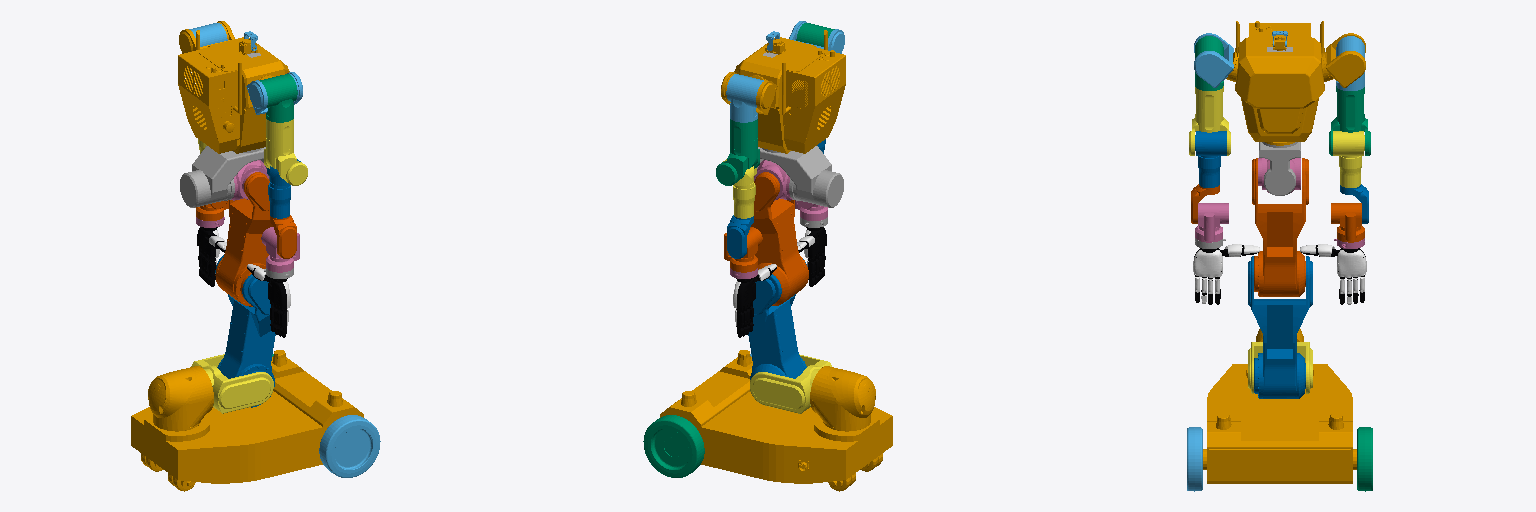
--- What the picture shows (computed from the rendered views, not written in the file) ---
Views: 3 orthographic renders of the robot side by side, from view 1: azimuth 30°, elevation 25°; view 2: azimuth 150°, elevation 25°; view 3: azimuth 270°, elevation 25°.
Robot: RB_Y1_V1_0_1 — 86 links, 85 joints (45 revolute, 2 continuous, 38 fixed); root link base_link; default pose: every joint at zero.
Links seen in each view (by area): view 1: base_link, link_torso_4, link_torso_1, link_torso_0, wheel_r, link_torso_3, link_torso_base, link_right_arm_2, link_right_arm_1, link_right_arm_3, link_right_arm_5, link_right_arm_4 (+3 smaller); view 2: base_link, link_torso_4, link_torso_1, link_torso_0, wheel_l, link_torso_3, link_torso_base, link_left_arm_2, link_left_arm_1, link_left_arm_3, link_left_arm_5, link_left_arm_4 (+3 smaller); view 3: base_link, link_torso_4, link_torso_0, link_torso_1, link_torso_3, link_right_arm_2, link_left_arm_2, link_right_arm_3, link_left_arm_3, link_right_arm_0, link_left_arm_0, link_right_arm_5 (+8 smaller).
Link boxes in pixels (bbox=[...]): base_link: bbox=[131, 350, 363, 491]; link_torso_4: bbox=[178, 30, 289, 153]; link_torso_1: bbox=[215, 172, 272, 306]; link_torso_0: bbox=[215, 255, 275, 407]; wheel_r: bbox=[319, 415, 380, 477]; link_torso_3: bbox=[180, 146, 269, 207]; link_torso_base: bbox=[191, 354, 273, 413]; link_right_arm_2: bbox=[264, 119, 307, 185]; link_right_arm_1: bbox=[260, 74, 297, 122]; link_right_arm_3: bbox=[267, 159, 300, 218]; link_right_arm_5: bbox=[261, 227, 299, 272]; link_right_arm_4: bbox=[270, 215, 296, 258]; base_link: bbox=[660, 350, 892, 491]; link_torso_4: bbox=[734, 30, 845, 153]; link_torso_1: bbox=[751, 172, 808, 305]; link_torso_0: bbox=[748, 259, 806, 379]; wheel_l: bbox=[643, 415, 704, 477]; link_torso_3: bbox=[757, 146, 843, 207]; link_torso_base: bbox=[750, 354, 831, 413]; link_left_arm_2: bbox=[716, 119, 759, 185]; link_left_arm_1: bbox=[726, 74, 763, 122]; link_left_arm_3: bbox=[723, 159, 756, 218]; link_left_arm_5: bbox=[724, 227, 762, 272]; link_left_arm_4: bbox=[727, 215, 753, 258]; base_link: bbox=[1203, 329, 1356, 483]; link_torso_4: bbox=[1226, 21, 1333, 145]; link_torso_0: bbox=[1248, 256, 1312, 398]; link_torso_1: bbox=[1252, 158, 1308, 296]; link_torso_3: bbox=[1259, 142, 1300, 195]; link_right_arm_2: bbox=[1189, 86, 1230, 155]; link_left_arm_2: bbox=[1329, 86, 1370, 155]; link_right_arm_3: bbox=[1195, 131, 1226, 187]; link_left_arm_3: bbox=[1333, 131, 1364, 187]; link_right_arm_0: bbox=[1194, 33, 1233, 87]; link_left_arm_0: bbox=[1326, 33, 1365, 87]; link_right_arm_5: bbox=[1195, 203, 1228, 242].
Size in the robot's own frame: 0.6626 by 0.58 by 1.47 metres.
Meshes: 85 distinct files referenced, 80 mesh visuals loaded (79 binary STL); not drawn: 6 (reference not matched to a file when rendering).

The robot description file, URDF, robot "RB_Y1_V1_0_1":
<?xml version='1.0' encoding='utf-8'?>
<robot name="RB_Y1_V1_0_1">
    <mujoco>
        <compiler
          balanceinertia="true"
          discardvisual="false"
          angle="radian"
          fusestatic="false"
          inertiafromgeom="false"
          fitaabb="false"
          
         />
        <option gravity="0 0 -9.81" timestep="0.002" />
      </mujoco>
    <mobile type="differential" xyz="0.228 0 0" rpy="0 0 0" joints="right_wheel left_wheel" params="0.53 0.1" />

    <link name="base_link">
        <inertial>
            <mass value="60.08042639" />
            <origin rpy="0 0 0" xyz="-0.06157942 -0.00142271 0.13513861" />
            <inertia ixx="1.37742174" ixy="0.02521789" ixz="0.18565467" iyy="2.99386515" iyz="-0.00641869" izz="3.76085052" />
        </inertial>

        <visual>
            <geometry>
                <mesh filename="./base.stl" />
            </geometry>
        </visual>
    </link>

    <link name="wheel_r">
        <inertial>
            <mass value="1.37783736" />
            <origin rpy="0 0 0" xyz="0.0 -0.00073938 0.0" />
            <inertia ixx="0.00426657" ixy="0.0" ixz="0.0" iyy="0.00811815" iyz="0.0" izz="0.00426657" />
        </inertial>

        <visual>
            <geometry>
                <mesh filename="./WHEEL.stl" />
            </geometry>
        </visual>
    </link>

    <link name="wheel_l">
        <inertial>
            <mass value="1.37783736" />
            <origin rpy="0 0 0" xyz="0.0 0.00073938 0.0" />
            <inertia ixx="0.00426657" ixy="0.0" ixz="0.0" iyy="0.00811815" iyz="0.0" izz="0.00426657" />
        </inertial>

        <visual>
            <geometry>
                <mesh filename="./WHEEL.stl" />
            </geometry>
        </visual>
    </link>

    <link name="link_torso_base">
        <inertial>
            <mass value="2.24282123" />
            <origin rpy="0 0 0" xyz="-0.08848415 0.00021367 0.00000046" />
            <inertia ixx="0.01413496" ixy="0.00092982" ixz="-0.00000010" iyy="0.01005357" iyz="-0.00000008" izz="0.01892525" />
        </inertial>

        <visual>
            <geometry>
                <mesh filename="./LINK_1.stl" />
            </geometry>
        </visual>

        <collision><origin xyz="-0.115000 0.000000 0.000000" rpy="0.000000 1.570800 0.000000" /><geometry><cylinder radius="0.105000" length="0.020000" /></geometry></collision><collision><origin xyz="-0.105000 0.000000 -0.000000" rpy="0.000000 1.570800 0.000000" /><geometry><sphere radius="0.105000" /></geometry></collision><collision><origin xyz="-0.125000 0.000000 0.000000" rpy="0.000000 1.570800 0.000000" /><geometry><sphere radius="0.105000" /></geometry></collision></link>

    <link name="link_torso_0">
        <inertial>
            <mass value="9.72162676" />
            <origin rpy="0 0 0" xyz="0.00728955 -0.01728522 0.06911380" />
            <inertia ixx="0.14862640" ixy="-0.00142621" ixz="-0.00951385" iyy="0.13854733" iyz="-0.00975351" izz="0.02912982" />
        </inertial>

        <visual>
            <geometry>
                <mesh filename="./LINK_2.stl" />
            </geometry>
        </visual>

        <collision><origin xyz="0.010000 0.000000 0.240000" rpy="0.000000 0.000000 0.000000" /><geometry><sphere radius="0.115000" /></geometry></collision></link>

    <link name="link_torso_1">
        <inertial>
            <mass value="9.21691850" />
            <origin rpy="0 0 0" xyz="0.00653835 -0.01769536 0.05636582" />
            <inertia ixx="0.12162270" ixy="-0.00127910" ixz="-0.00831678" iyy="0.11589190" iyz="-0.00873271" izz="0.03094484" />
        </inertial>

        <visual>
            <geometry>
                <mesh filename="./LINK_3.stl" />
            </geometry>
        </visual>

        <collision><origin xyz="0.025000 0.000000 0.230000" rpy="0.000000 0.000000 0.000000" /><geometry><sphere radius="0.095000" /></geometry></collision></link>

    <link name="link_torso_2">
        <inertial>
            <mass value="4.18679196" />
            <origin rpy="0 0 0" xyz="-0.00574156 -0.01725975 0.00005610" />
            <inertia ixx="0.00849870" ixy="0.00040861" ixz="-0.00000263" iyy="0.00929513" iyz="-0.00001243" izz="0.00955442" />
        </inertial>

        <visual>
            <geometry>
                <mesh filename="./LINK_4.stl" />
            </geometry>
        </visual>
    </link>

    <link name="link_torso_3">
        <inertial>
            <mass value="4.45566276" />
            <origin rpy="0 0 0" xyz="-0.09097095 0.00005085 0.02601950" />
            <inertia ixx="0.01545991" ixy="0.00001883" ixz="-0.00780349" iyy="0.02550888" iyz="0.00000715" izz="0.01952563" />
        </inertial>

        <visual>
            <geometry>
                <mesh filename="./LINK_5.stl" />
            </geometry>
        </visual>


        <collision><origin xyz="-0.070000 0.000000 0.038500" rpy="0.000000 1.570800 0.000000" /><geometry><sphere radius="0.105000" /></geometry></collision></link>

    <link name="link_torso_4">
        <inertial>
            <mass value="12.59012341" />
            <origin rpy="0 0 0" xyz="-0.01338376 0.00025621 -0.03272487" />
            <inertia ixx="0.21375525" ixy="0.00051520" ixz="0.00880124" iyy="0.16562090" iyz="-0.00023995" izz="0.13308879" />
        </inertial>

        <visual>
            <geometry>
                <mesh filename="./LINK_6.stl" />
            </geometry>
        </visual>

        <collision><origin xyz="0.000000 0.000000 0.007500" rpy="0.000000 0.000000 0.000000" /><geometry><sphere radius="0.155000" /></geometry></collision></link>

    <link name="link_right_arm_0">
        <inertial>
            <mass value="1.26164242" />
            <origin rpy="0 0 0" xyz="-0.00316662 0.03437181 -0.00000030" />
            <inertia ixx="0.00230621" ixy="0.00039024" ixz="-0.00000256" iyy="0.00426418" iyz="0.00000118" izz="0.00432156" />
        </inertial>

        <visual>
            <geometry>
                <mesh filename="./LINK_7.stl" />
            </geometry>
        </visual>

        <collision><origin xyz="-0.015000 0.018000 -0.008000" rpy="0.000000 1.570800 0.000000" /><geometry><sphere radius="0.075000" /></geometry></collision></link>

    <link name="link_right_arm_1">
        <inertial>
            <mass value="2.27287031" />
            <origin rpy="0 0 0" xyz="-0.00307855 -0.00124741 -0.01294324" />
            <inertia ixx="0.00388490" ixy="-0.00001477" ixz="0.00011465" iyy="0.00447034" iyz="-0.00010023" izz="0.00288341" />
        </inertial>

        <visual>
            <geometry>
                <mesh filename="./LINK_8.stl" />
            </geometry>
        </visual>

        <collision><origin xyz="0.000000 0.000000 -0.100000" rpy="0.000000 0.000000 0.000000" /><geometry><cylinder radius="0.050000" length="0.100000" /></geometry></collision><collision><origin xyz="0.000000 0.000000 -0.050000" rpy="0.000000 0.000000 0.000000" /><geometry><sphere radius="0.050000" /></geometry></collision><collision><origin xyz="0.000000 0.000000 -0.150000" rpy="0.000000 0.000000 0.000000" /><geometry><sphere radius="0.050000" /></geometry></collision></link>

    <link name="link_right_arm_2">
        <inertial>
            <mass value="2.46909439" />
            <origin rpy="0 0 0" xyz="0.00115434 -0.00196635 -0.16192524" />
            <inertia ixx="0.00980269" ixy="0.00005871" ixz="0.00051888" iyy="0.00924560" iyz="-0.00045932" izz="0.00329867" />
        </inertial>

        <visual>
            <geometry>
                <mesh filename="./LINK_9.stl" />
            </geometry>
        </visual>

        <collision><origin xyz="0.026000 0.000000 -0.276000" rpy="1.570800 0.000000 0.000000" /><geometry><sphere radius="0.050000" /></geometry></collision></link>

    <link name="link_right_arm_3">
        <inertial>
            <mass value="2.26099493" />
            <origin rpy="0 0 0" xyz="-0.01603135 -0.00692891 -0.04549811" />
            <inertia ixx="0.00822606" ixy="0.00027620" ixz="-0.00156570" iyy="0.00844870" iyz="0.00076157" izz="0.00236614" />
        </inertial>

        <visual>
            <geometry>
                <mesh filename="./LINK_10.stl" />
            </geometry>
        </visual>

        <collision><origin xyz="-0.031000 0.000000 -0.107500" rpy="0.000000 0.000000 0.000000" /><geometry><cylinder radius="0.040000" length="0.035000" /></geometry></collision><collision><origin xyz="-0.031000 0.000000 -0.090000" rpy="0.000000 0.000000 0.000000" /><geometry><sphere radius="0.040000" /></geometry></collision><collision><origin xyz="-0.031000 0.000000 -0.125000" rpy="0.000000 0.000000 0.000000" /><geometry><sphere radius="0.040000" /></geometry></collision></link>

    <link name="link_right_arm_4">
        <inertial>
            <mass value="0.42508710" />
            <origin rpy="0 0 0" xyz="-0.00000011 -0.02696036 0.06182110" />
            <inertia ixx="0.00082466" ixy="0.0" ixz="0.0" iyy="0.00075398" iyz="-0.00025338" izz="0.00039794" />
        </inertial>

        <visual>
            <geometry>
                <mesh filename="./LINK_11.stl" />
            </geometry>
        </visual>

        <collision><origin xyz="0.000000 -0.038000 0.017500" rpy="0.000000 0.000000 0.000000" /><geometry><cylinder radius="0.035000" length="0.025000" /></geometry></collision><collision><origin xyz="0.000000 -0.038000 0.030000" rpy="0.000000 0.000000 0.000000" /><geometry><sphere radius="0.035000" /></geometry></collision><collision><origin xyz="0.000000 -0.038000 0.005000" rpy="0.000000 0.000000 0.000000" /><geometry><sphere radius="0.035000" /></geometry></collision></link>

    <link name="link_right_arm_5">
        <inertial>
            <mass value="1.59194395" />
            <origin rpy="0 0 0" xyz="0.00318034 -0.00532264 -0.02809655" />
            <inertia ixx="0.00256054" ixy="-0.00002344" ixz="-0.00001563" iyy="0.00257233" iyz="0.00021608" izz="0.00156092" />
        </inertial>

        <visual>
            <geometry>
                <mesh filename="./LINK_12.stl" />
            </geometry>
        </visual>

        <collision><origin xyz="0.000000 0.000000 -0.100000" rpy="0.000000 0.000000 0.000000" /><geometry><cylinder radius="0.075000" length="0.100000" /></geometry></collision><collision><origin xyz="0.000000 0.000000 -0.050000" rpy="0.000000 0.000000 0.000000" /><geometry><sphere radius="0.075000" /></geometry></collision><collision><origin xyz="0.000000 0.000000 -0.150000" rpy="0.000000 0.000000 0.000000" /><geometry><sphere radius="0.075000" /></geometry></collision></link>

    <link name="link_right_arm_6">
        <inertial>
            <mass value="0.21137279" />
            <origin rpy="0 0 0" xyz="0.00066810 -0.00031708 -0.09636043" />
            <inertia ixx="0.00013511" ixy="-0.00000242" ixz="-0.00000102" iyy="0.00014453" iyz="0.00000094" izz="0.00025431" />
        </inertial>

        <visual>
            <geometry>
                <mesh filename="./LINK_13.stl" />
            </geometry>
        </visual>
    </link>

    <link name="link_left_arm_0">
        <inertial>
            <mass value="1.26164242" />
            <origin rpy="0 0 0" xyz="-0.00316662 -0.03437151 0.00000242" />
            <inertia ixx="0.00230624" ixy="-0.00039022" ixz="0.00000269" iyy="0.00426418" iyz="0.00000108" izz="0.00432159" />
        </inertial>

        <visual>
            <geometry>
                <mesh filename="./LINK_14.stl" />
            </geometry>
        </visual>

        <collision><origin xyz="-0.015000 -0.018000 -0.008000" rpy="0.000000 1.570800 0.000000" /><geometry><sphere radius="0.075000" /></geometry></collision></link>

    <link name="link_left_arm_1">
        <inertial>
            <mass value="1.88138658" />
            <origin rpy="0 0 0" xyz="-0.00183470 0.00040596 -0.01008733" />
            <inertia ixx="0.00295838" ixy="-0.00001176" ixz="0.00006949" iyy="0.00355208" iyz="0.00004467" izz="0.00230558" />
        </inertial>

        <visual>
            <geometry>
                <mesh filename="./LINK_15.stl" />
            </geometry>
        </visual>

        <collision><origin xyz="0.000000 0.000000 -0.100000" rpy="0.000000 0.000000 0.000000" /><geometry><cylinder radius="0.050000" length="0.100000" /></geometry></collision><collision><origin xyz="0.000000 0.000000 -0.050000" rpy="0.000000 0.000000 0.000000" /><geometry><sphere radius="0.050000" /></geometry></collision><collision><origin xyz="0.000000 0.000000 -0.150000" rpy="0.000000 0.000000 0.000000" /><geometry><sphere radius="0.050000" /></geometry></collision></link>

    <link name="link_left_arm_2">
        <inertial>
            <mass value="2.35634437" />
            <origin rpy="0 0 0" xyz="0.00066086 -0.00038583 -0.15742972" />
            <inertia ixx="0.00842712" ixy="0.00000247" ixz="0.00036948" iyy="0.00802311" iyz="-0.00006550" izz="0.00295678" />
        </inertial>

        <visual>
            <geometry>
                <mesh filename="./LINK_16.stl" />
            </geometry>
        </visual>

        <collision><origin xyz="0.026000 0.000000 -0.276000" rpy="1.570800 0.000000 0.000000" /><geometry><sphere radius="0.050000" /></geometry></collision></link>

    <link name="link_left_arm_3">
        <inertial>
            <mass value="2.00905891" />
            <origin rpy="0 0 0" xyz="-0.01565298 0.00793126 -0.04997943" />
            <inertia ixx="0.00756474" ixy="-0.00026771" ixz="-0.00155419" iyy="0.00772758" iyz="-0.00084364" izz="0.00199754" />
        </inertial>

        <visual>
            <geometry>
                <mesh filename="./LINK_17.stl" />
            </geometry>
        </visual>

        <collision><origin xyz="-0.031000 0.000000 -0.107500" rpy="0.000000 0.000000 0.000000" /><geometry><cylinder radius="0.040000" length="0.035000" /></geometry></collision><collision><origin xyz="-0.031000 0.000000 -0.090000" rpy="0.000000 0.000000 0.000000" /><geometry><sphere radius="0.040000" /></geometry></collision><collision><origin xyz="-0.031000 0.000000 -0.125000" rpy="0.000000 0.000000 0.000000" /><geometry><sphere radius="0.040000" /></geometry></collision></link>

    <link name="link_left_arm_4">
        <inertial>
            <mass value="0.42508710" />
            <origin rpy="0 0 0" xyz="0.00000011 0.02696036 0.06182110" />
            <inertia ixx="0.00082466" ixy="0.0" ixz="0.0" iyy="0.00075398" iyz="0.00025338" izz="0.00039794" />
        </inertial>

        <visual>
            <geometry>
                <mesh filename="./LINK_18.stl" />
            </geometry>
        </visual>

        <collision><origin xyz="0.000000 0.038000 0.017500" rpy="0.000000 0.000000 0.000000" /><geometry><cylinder radius="0.035000" length="0.025000" /></geometry></collision><collision><origin xyz="0.000000 0.038000 0.030000" rpy="0.000000 0.000000 0.000000" /><geometry><sphere radius="0.035000" /></geometry></collision><collision><origin xyz="0.000000 0.038000 0.005000" rpy="0.000000 0.000000 0.000000" /><geometry><sphere radius="0.035000" /></geometry></collision></link>

    <link name="link_left_arm_5">
        <inertial>
            <mass value="1.44264795" />
            <origin rpy="0 0 0" xyz="0.00340082 0.00576824 -0.02507309" />
            <inertia ixx="0.00233577" ixy="0.00003048" ixz="-0.00001191" iyy="0.00232580" iyz="-0.00019491" izz="0.00138375" />
        </inertial>

        <visual>
            <geometry>
                <mesh filename="./LINK_19.stl" />
            </geometry>
        </visual>

        <collision><origin xyz="0.000000 0.000000 -0.100000" rpy="0.000000 0.000000 0.000000" /><geometry><cylinder radius="0.075000" length="0.100000" /></geometry></collision><collision><origin xyz="0.000000 0.000000 -0.050000" rpy="0.000000 0.000000 0.000000" /><geometry><sphere radius="0.075000" /></geometry></collision><collision><origin xyz="0.000000 0.000000 -0.150000" rpy="0.000000 0.000000 0.000000" /><geometry><sphere radius="0.075000" /></geometry></collision></link>

    <link name="link_left_arm_6">
        <inertial>
            <mass value="0.21137279" />
            <origin rpy="0 0 0" xyz="-0.00066810 0.00031708 -0.09636043" />
            <inertia ixx="0.00013511" ixy="-0.00000242" ixz="0.00000102" iyy="0.00014453" iyz="-0.00000094" izz="0.00025431" />
        </inertial>

        <visual>
            <geometry>
                <mesh filename="./LINK_20.stl" />
            </geometry>
        </visual>
    </link>


    <link name="link_head_0">
        <inertial>
            <mass value="0.07582110" />
            <origin rpy="0 0 0" xyz="-0.00800549 0.0 -0.01100308" />
            <inertia ixx="0.00003307" ixy="0.0" ixz="-0.00000290" iyy="0.00002209" iyz="0.0" izz="0.00003796" />
        </inertial>

        <visual>
            <geometry>
                <mesh filename="./PAN_TILT_1.stl" />
            </geometry>
        </visual>
    </link>

    <link name="link_head_1">
        <inertial>
            <mass value="0.07450580" />
            <origin rpy="0 0 0" xyz="-0.01150679 -0.00114270 -0.00031579" />
            <inertia ixx="0.00001850" ixy="-0.00000035" ixz="0.00000203" iyy="0.00002451" iyz="-0.00000010" izz="0.00002062" />
        </inertial>

        <visual>
            <geometry>
                <mesh filename="./PAN_TILT_2.stl" />
            </geometry>
        </visual>
    </link>

    <link name="link_head_2">
        <inertial>
            <mass value="0.03585374" />
            <origin rpy="0 0 0" xyz="-0.00081966 0.00099024 0.02283704" />
            <inertia ixx="0.00002046" ixy="0.00000001" ixz="-0.00000027" iyy="0.00001044" iyz="0.00000076" izz="0.00001291" />
        </inertial>

        <visual>
            <geometry>
                <mesh filename="./PAN_TILT_3.stl" />
            </geometry>
        </visual>
    </link>


    
    <joint name="right_wheel" type="continuous">
        <parent link="base_link" />
        <child link="wheel_r" />
        <origin rpy="0.0 0.0 0.0" xyz="0.228 -0.265 0.1" />
        <axis xyz="0 -1 0" />
        <limit effort="100.0" velocity="15.707963268" acceleration="3.141592" />
    </joint>

    <joint name="left_wheel" type="continuous">
        <parent link="base_link" />
        <child link="wheel_l" />
        <origin rpy="0.0 0.0 0.0" xyz="0.228 0.265 0.1" />
        <axis xyz="0 -1 0" />
        <limit effort="100.0" velocity="15.707963268" acceleration="3.141592" />
    </joint>

    <joint name="torso_base" type="fixed">
        <parent link="base_link" />
        <child link="link_torso_base" />
        <origin rpy="0.0 0.0 0.0" xyz="0.0 0.0 0.2805" />
        <axis xyz="1 0 0" />
    </joint>

    <joint name="torso_0" type="revolute">
        <parent link="link_torso_base" />
        <child link="link_torso_0" />
        <origin rpy="0.0 0.0 0.0" xyz="0.0 0.0 0.0" />
        <axis xyz="0 1 0" />
        
        
        <limit effort="270.0" acceleration="5.0" velocity="2.09439510" lower="-0.523598776" upper="1.570796327" />
    </joint>

    <joint name="torso_1" type="revolute">
        <parent link="link_torso_0" />
        <child link="link_torso_1" />
        <origin rpy="0.0 0.0 0.0" xyz="0.0 0.0 0.350" />
        <axis xyz="0 1 0" />
        
        
        <limit effort="270.0" acceleration="5.0" velocity="2.09439510" lower="-2.617993878" upper="1.570796327" />
    </joint>

    <joint name="torso_2" type="revolute">
        <parent link="link_torso_1" />
        <child link="link_torso_2" />
        <origin rpy="0.0 0.0 0.0" xyz="0.0 0.0 0.350" />
        <axis xyz="0 1 0" />
        
        
        <limit effort="120.0" acceleration="5.0" velocity="3.141592654" lower="-0.785398163" upper="1.570796327" />
    </joint>

    <joint name="torso_3" type="revolute">
        <parent link="link_torso_2" />
        <child link="link_torso_3" />
        <origin rpy="0.0 0.0 0.0" xyz="0.0 0.0 0.0" />
        <axis xyz="1 0 0" />
        
        
        <limit effort="120.0" acceleration="5.0" velocity="3.141592654" lower="-0.523598776" upper="0.523598776" />
    </joint>

    <joint name="torso_4" type="revolute">
        <parent link="link_torso_3" />
        <child link="link_torso_4" />
        <origin rpy="0.0 0.0 0.0" xyz="0.0 0.0 0.309426548461" />
        <axis xyz="0 0 1" />
        
        
        <limit effort="120.0" acceleration="5.0" velocity="3.141592654" lower="-2.35619449" upper="2.35619449" />
    </joint>

    <joint name="right_arm_0" type="revolute">
        <parent link="link_torso_4" />
        <child link="link_right_arm_0" />
        <origin rpy="-0.349065850  0.0 0.0" xyz="0.0 -0.220 0.080073451539 " />
        <axis xyz="0 1 0" />
        
        
        <limit effort="70.0" acceleration="10.0" velocity="3.141592654" lower="-3.141592654" upper="3.141592654" />
    </joint>

    <joint name="right_arm_1" type="revolute">
        <parent link="link_right_arm_0" />
        <child link="link_right_arm_1" />
        <origin rpy="0.349065850 0.0 0.0" xyz="0.0 0.0 0.0" />
        <axis xyz="1 0 0" />
        
        
        <limit effort="70.0" acceleration="10.0" velocity="3.141592654" lower="-3.141592654" upper="0.017453293" />
    </joint>

    <joint name="right_arm_2" type="revolute">
        <parent link="link_right_arm_1" />
        <child link="link_right_arm_2" />
        <origin rpy="0.0 0.0 0.0" xyz="0.0 0.0 0.0" />
        <axis xyz="0 0 1" />
        
        
        <limit effort="70.0" acceleration="10.0" velocity="3.141592654" lower="-3.141592654" upper="3.141592654" />
    </joint>

    <joint name="right_arm_3" type="revolute">
        <parent link="link_right_arm_2" />
        <child link="link_right_arm_3" />
        <origin rpy="0.0 0.0 0.0" xyz="0.031 0.0 -0.276" />
        <axis xyz="0 1 0" />
        
        
        <limit effort="40.0" acceleration="10.0" velocity="3.141592654" lower="-2.617993878" upper="0.017453293" />
    </joint>

    <joint name="right_arm_4" type="revolute">
        <parent link="link_right_arm_3" />
        <child link="link_right_arm_4" />
        <origin rpy="0.0 0.0 0.0" xyz="-0.031 0.0 -0.256" />
        <axis xyz="0 0 1" />
        
        
        <limit effort="10.0" acceleration="10.0" velocity="6.283185308" lower="-3.141592654" upper="3.141592654" />
    </joint>

    <joint name="right_arm_5" type="revolute">
        <parent link="link_right_arm_4" />
        <child link="link_right_arm_5" />
        <origin rpy="0.0 0.0 0.0" xyz="0.0 0.0 0.0" />
        <axis xyz="0 1 0" />
        
        
        <limit effort="10.0" acceleration="10.0" velocity="6.283185308" lower="-1.570796327" upper="1.919862177" />
    </joint>

    <joint name="right_arm_6" type="revolute">
        <parent link="link_right_arm_5" />
        <child link="link_right_arm_6" />
        <origin rpy="0.0 0.0 0.0" xyz="0.0 0.0 0.0" />
        <axis xyz="0 0 1" />
        
        
        <limit effort="8.0" acceleration="10.0" velocity="2.094395102" lower="-2.705260340" upper="2.705260340" />
    </joint>


    <joint name="left_arm_0" type="revolute">
        <parent link="link_torso_4" />
        <child link="link_left_arm_0" />
        <origin rpy="0.349065850  0.0 0.0" xyz="0.0 0.220 0.080073452 " />
        <axis xyz="0 1 0" />
        
        
        <limit effort="70.0" acceleration="10.0" velocity="3.141592654" lower="-3.141592654" upper="3.141592654" />
    </joint>

    <joint name="left_arm_1" type="revolute">
        <parent link="link_left_arm_0" />
        <child link="link_left_arm_1" />
        <origin rpy="-0.349065850 0.0 0.0" xyz="0.0 0.0 0.0" />
        <axis xyz="1 0 0" />
        
        
        <limit effort="70.0" acceleration="10.0" velocity="3.141592654" lower="-0.017453293" upper="3.141592654" />
    </joint>

    <joint name="left_arm_2" type="revolute">
        <parent link="link_left_arm_1" />
        <child link="link_left_arm_2" />
        <origin rpy="0.0 0.0 0.0" xyz="0.0 0.0 0.0" />
        <axis xyz="0 0 1" />
        
        
        <limit effort="70.0" acceleration="10.0" velocity="3.141592654" lower="-3.141592654" upper="3.141592654" />
    </joint>

    <joint name="left_arm_3" type="revolute">
        <parent link="link_left_arm_2" />
        <child link="link_left_arm_3" />
        <origin rpy="0.0 0.0 0.0" xyz="0.031 0.0 -0.276" />
        <axis xyz="0 1 0" />
        
        
        <limit effort="40.0" acceleration="10.0" velocity="3.141592654" lower="-2.617993878" upper="0.017453293" />
    </joint>

    <joint name="left_arm_4" type="revolute">
        <parent link="link_left_arm_3" />
        <child link="link_left_arm_4" />
        <origin rpy="0.0 0.0 0.0" xyz="-0.031 0.0 -0.256" />
        <axis xyz="0 0 1" />
        
        
        <limit effort="10.0" acceleration="10.0" velocity="6.283185308" lower="-3.141592654" upper="3.141592654" />
    </joint>

    <joint name="left_arm_5" type="revolute">
        <parent link="link_left_arm_4" />
        <child link="link_left_arm_5" />
        <origin rpy="0.0 0.0 0.0" xyz="0.0 0.0 0.0" />
        <axis xyz="0 1 0" />
        
        
        <limit effort="10.0" acceleration="10.0" velocity="6.283185308" lower="-1.570796327" upper="1.919862177" />
    </joint>

    <joint name="left_arm_6" type="revolute">
        <parent link="link_left_arm_5" />
        <child link="link_left_arm_6" />
        <origin rpy="0.0 0.0 0.0" xyz="0.0 0.0 0.0" />
        <axis xyz="0 0 1" />
        
        
        <limit effort="8.0" acceleration="10.0" velocity="2.094395102" lower="-2.705260340" upper="2.705260340" />
    </joint>

    <joint name="head_base" type="fixed">
        <parent link="link_torso_4" />
        <child link="link_head_0" />
        <origin rpy="0.0 0.0 0.0" xyz="0.022 0.0 0.120073451525" />
        <axis xyz="0 0 1" />
    </joint>

    <joint name="head_0" type="revolute">
        <parent link="link_head_0" />
        <child link="link_head_1" />
        <origin rpy="0.0 0.0 0.0" xyz="0.0 0.0 0.02" />
        <axis xyz="0 0 1" />
        <limit effort="1000" velocity="3.14" lower="-0.523" upper="0.523" />
    </joint>

    <joint name="head_1" type="revolute">
        <parent link="link_head_1" />
        <child link="link_head_2" />
        <origin rpy="0.0 0.0 0.0" xyz="0.0 0.0 0.0" />
        <axis xyz="0 1 0" />
        <limit effort="1000" velocity="3.14" lower="-0.35" upper="1.57" />
    </joint>




    <link
    name="left_hand_link">
    <inertial>
      <origin
        xyz="-0.00332669287155695 -0.0101781679017775 -0.0570610488181998"
        rpy="0 0 0" />
      <mass
        value="0.53910397" />
      <inertia
        ixx="0.00046461"
        ixy="-0.0000027"
        ixz="-0.00005111"
        iyy="0.00064437"
        iyz="-0.00000218"
        izz="0.00027759" />
    </inertial>
    <visual>
      <origin
        xyz="0 0 0"
        rpy="0 0 0" />
      <geometry>
        <mesh
          filename="./left_hand_link.stl" />
      </geometry>
      <material
        name="RAL_9005_Jet_Black">
        <color
          rgba="0.055 0.055 0.063 1" />
      </material>
    </visual>
    <collision>
      <origin
        xyz="0 0 0"
        rpy="0 0 0" />
      <geometry>
        <mesh
          filename="./left_hand_link.stl" />
      </geometry>
    </collision>
  </link>
  <link
    name="left_hand_ee_link">
    <inertial>
      <origin
        xyz="-9.14235300816632E-20 6.87814821208628E-18 0"
        rpy="0 0 0" />
      <mass
        value="0.00000565" />
      <inertia
        ixx="0.00000000001"
        ixy="0.00000000001"
        ixz="0.00000000001"
        iyy="0.00000000001"
        iyz="0.00000000001"
        izz="0.00000000001" />
    </inertial>
    <visual>
      <origin
        xyz="0 0 0"
        rpy="0 0 0" />
      <geometry>
        <mesh
          filename="./left_hand_ee_link.stl" />
      </geometry>
      <material
        name="RAL_9005_Jet_Black">
        <color
          rgba="0.055 0.055 0.063 1" />
      </material>
    </visual>
    <collision>
      <origin
        xyz="0 0 0"
        rpy="0 0 0" />
      <geometry>
        <mesh
          filename="./left_hand_ee_link.stl" />
      </geometry>
    </collision>
  </link>
  <joint
    name="left_hand_ee_joint"
    type="fixed">
    <origin
      xyz="0 0 -0.065"
      rpy="0 0 0" />
    <parent
      link="left_hand_link" />
    <child
      link="left_hand_ee_link" />
    <axis
      xyz="0 0 0" />
  </joint>
  <link
    name="left_hand_back_link">
    <inertial>
      <origin
        xyz="-0.00206614328070064 0.0140092020913419 0.000644119291874204"
        rpy="0 0 0" />
      <mass
        value="0.00000020" />
      <inertia
        ixx="0.00000000001"
        ixy="0.00000000001"
        ixz="0.00000000001"
        iyy="0.00000000001"
        iyz="0.00000000001"
        izz="0.00000000001" />
    </inertial>
    <visual>
      <origin
        xyz="0 0 0"
        rpy="0 0 0" />
      <geometry>
        <mesh
          filename="./left_hand_back_link.stl" />
      </geometry>
      <material
        name="RAL_9003_Signal_White">
        <color
          rgba="0.941 0.941 0.941 1" />
      </material>
    </visual>
    <collision>
      <origin
        xyz="0 0 0"
        rpy="0 0 0" />
      <geometry>
        <mesh
          filename="./left_hand_back_link.stl" />
      </geometry>
    </collision>
  </link>
  <joint
    name="left_hand_back_joint"
    type="fixed">
    <origin
      xyz="0 0 -0.065"
      rpy="0 0 0" />
    <parent
      link="left_hand_link" />
    <child
      link="left_hand_back_link" />
    <axis
      xyz="0 0 0" />
    <dynamics
      damping="0"
      friction="0" />
  </joint>
  <link
    name="left_hand_thumb_bend_link">
    <inertial>
      <origin
        xyz="0.0144315029292586 0.00116653625408803 -6.50665966587562E-05"
        rpy="0 0 0" />
      <mass
        value="0.0118729" />
      <inertia
        ixx="0.00000062"
        ixy="0.00000004"
        ixz="-0.00000008"
        iyy="0.0000016"
        iyz="0.00000000001"
        izz="0.00000162" />
    </inertial>
    <visual>
      <origin
        xyz="0 0 0"
        rpy="0 0 0" />
      <geometry>
        <mesh
          filename="./left_hand_thumb_bend_link.stl" />
      </geometry>
      <material
        name="RAL_9005_Jet_Black">
        <color
          rgba="0.055 0.055 0.063 1" />
      </material>
    </visual>
    <collision>
      <origin
        xyz="0 0 0"
        rpy="0 0 0" />
      <geometry>
        <mesh
          filename="./left_hand_thumb_bend_link.stl" />
      </geometry>
    </collision>
  </link>
  <joint
    name="left_hand_thumb_bend_joint"
    type="revolute">
    <origin
      xyz="0.0228 -0.0095 -0.0305"
      rpy="0 0 0" />
    <parent
      link="left_hand_link" />
    <child
      link="left_hand_thumb_bend_link" />
    <axis
      xyz="0 0 -1" />
    <limit
      lower="0"
      upper="1.832"
      effort="1.1"
      velocity="8.63" />
    <dynamics
      damping="0"
      friction="0" />
  </joint>
  <link
    name="left_hand_thumb_rota_link1">
    <inertial>
      <origin
        xyz="0.028699400584835 0.000353013004294657 -0.0013521057380018"
        rpy="0 0 0" />
      <mass
        value="0.13268494" />
      <inertia
        ixx="0.00001702"
        ixy="0.00000762"
        ixz="-0.00000176"
        iyy="0.00003592"
        iyz="0.00000197"
        izz="0.00004285" />
    </inertial>
    <visual>
      <origin
        xyz="0 0 0"
        rpy="0 0 0" />
      <geometry>
        <mesh
          filename="./left_hand_thumb_rota_link1.stl" />
      </geometry>
      <material
        name="RAL_9005_Jet_Black">
        <color
          rgba="0.055 0.055 0.063 1" />
      </material>
    </visual>
    <collision>
      <origin
        xyz="0 0 0"
        rpy="0 0 0" />
      <geometry>
        <mesh
          filename="./left_hand_thumb_rota_link1.stl" />
      </geometry>
    </collision>
  </link>
  <joint
    name="left_hand_thumb_rota_joint1"
    type="revolute">
    <origin
      xyz="0.028599 -0.0083177 0.00178"
      rpy="-0.2618 0 -0.0407" />
    <parent
      link="left_hand_thumb_bend_link" />
    <child
      link="left_hand_thumb_rota_link1" />
    <axis
      xyz="0 1 0" />
    <limit
      lower="-0.698"
      upper="1.745"
      effort="1.1"
      velocity="8.63" />
    <dynamics
      damping="0"
      friction="0" />
  </joint>
  <link
    name="left_hand_thumb_rotaback_link1">
    <inertial>
      <origin
        xyz="-0.0296284435379629 -0.00145635345487384 0.00757347054072984"
        rpy="0 0 0" />
      <mass
        value="0.00000006" />
      <inertia
        ixx="0.00000000001"
        ixy="0.00000000001"
        ixz="0.00000000001"
        iyy="0.00000000001"
        iyz="0.00000000001"
        izz="0.00000000001" />
    </inertial>
    <visual>
      <origin
        xyz="0 0 0"
        rpy="0 0 0" />
      <geometry>
        <mesh
          filename="./left_hand_thumb_rotaback_link1.stl" />
      </geometry>
      <material
        name="RAL_9003_Signal_White">
        <color
          rgba="0.941 0.941 0.941 1" />
      </material>
    </visual>
    <collision>
      <origin
        xyz="0 0 0"
        rpy="0 0 0" />
      <geometry>
        <mesh
          filename="./left_hand_thumb_rotaback_link1.stl" />
      </geometry>
    </collision>
  </link>
  <joint
    name="left_hand_thumb_rotaback_joint1"
    type="fixed">
    <origin
      xyz="0.0553000000000004 0 0"
      rpy="0 0 0" />
    <parent
      link="left_hand_thumb_rota_link1" />
    <child
      link="left_hand_thumb_rotaback_link1" />
    <axis
      xyz="0 0 0" />
    <dynamics
      damping="0"
      friction="0" />
  </joint>
  <link
    name="left_hand_thumb_rota_link2">
    <inertial>
      <origin
        xyz="0.0228414266462457 0.000460794125797265 -0.000578251645405752"
        rpy="0 0 0" />
      <mass
        value="0.03536566" />
      <inertia
        ixx="0.00000353"
        ixy="-0.0000001"
        ixz="0.00000021"
        iyy="0.00000785"
        iyz="0.00000038"
        izz="0.00000898" />
    </inertial>
    <visual>
      <origin
        xyz="0 0 0"
        rpy="0 0 0" />
      <geometry>
        <mesh
          filename="./left_hand_thumb_rota_link2.stl" />
      </geometry>
      <material
        name="RAL_9005_Jet_Black">
        <color
          rgba="0.055 0.055 0.063 1" />
      </material>
    </visual>
    <collision>
      <origin
        xyz="0 0 0"
        rpy="0 0 0" />
      <geometry>
        <mesh
          filename="./left_hand_thumb_rota_link2.stl" />
      </geometry>
    </collision>
  </link>
  <joint
    name="left_hand_thumb_rota_joint2"
    type="revolute">
    <origin
      xyz="0.0553 0 0"
      rpy="0 0 0" />
    <parent
      link="left_hand_thumb_rota_link1" />
    <child
      link="left_hand_thumb_rota_link2" />
    <axis
      xyz="0 1 0" />
    <limit
      lower="0"
      upper="1.745"
      effort="0.4"
      velocity="14.38" />
    <dynamics
      damping="0"
      friction="0" />
  </joint>
  <link
    name="left_hand_thumb_rotaback_link2">
    <inertial>
      <origin
        xyz="-0.0256682291910944 0.000513274886833534 0.00926148645051527"
        rpy="0 0 0" />
      <mass
        value="0.00000004" />
      <inertia
        ixx="0.00000000001"
        ixy="0.00000000001"
        ixz="0.00000000001"
        iyy="0.00000000001"
        iyz="0.00000000001"
        izz="0.00000000001" />
    </inertial>
    <visual>
      <origin
        xyz="0 0 0"
        rpy="0 0 0" />
      <geometry>
        <mesh
          filename="./left_hand_thumb_rotaback_link2.stl" />
      </geometry>
      <material
        name="RAL_9003_Signal_White">
        <color
          rgba="0.941 0.941 0.941 1" />
      </material>
    </visual>
    <collision>
      <origin
        xyz="0 0 0"
        rpy="0 0 0" />
      <geometry>
        <mesh
          filename="./left_hand_thumb_rotaback_link2.stl" />
      </geometry>
    </collision>
  </link>
  <joint
    name="left_hand_thumb_rotaback_joint2"
    type="fixed">
    <origin
      xyz="0.0499881470979494 0 0"
      rpy="0 0 0" />
    <parent
      link="left_hand_thumb_rota_link2" />
    <child
      link="left_hand_thumb_rotaback_link2" />
    <axis
      xyz="0 0 0" />
    <dynamics
      damping="0"
      friction="0" />
  </joint>
  <link
    name="left_hand_thumb_rota_tip">
    <inertial>
      <origin
        xyz="-8.32667268468867E-17 1.04083408558608E-17 2.28983498828939E-16"
        rpy="0 0 0" />
      <mass
        value="0.00000565" />
      <inertia
        ixx="0.00000000001"
        ixy="0.00000000001"
        ixz="0.00000000001"
        iyy="0.00000000001"
        iyz="0.00000000001"
        izz="0.00000000001" />
    </inertial>
    <visual>
      <origin
        xyz="0 0 0"
        rpy="0 0 0" />
      <geometry>
        <mesh
          filename="./left_hand_thumb_rota_tip.stl" />
      </geometry>
      <material
        name="RAL_9005_Jet_Black">
        <color
          rgba="0.055 0.055 0.063 1" />
      </material>
    </visual>
    <collision>
      <origin
        xyz="0 0 0"
        rpy="0 0 0" />
      <geometry>
        <mesh
          filename="./left_hand_thumb_rota_tip.stl" />
      </geometry>
    </collision>
  </link>
  <joint
    name="left_hand_thumb_rota_joint3"
    type="fixed">
    <origin
      xyz="0.0499881470979494 0 0"
      rpy="0 0 0" />
    <parent
      link="left_hand_thumb_rota_link2" />
    <child
      link="left_hand_thumb_rota_tip" />
    <axis
      xyz="0 0 0" />
    <dynamics
      damping="0"
      friction="0" />
  </joint>
  <link
    name="left_hand_index_bend_link">
    <inertial>
      <origin
        xyz="-0.000388464456994867 0.000992075604557427 -0.00970333167554097"
        rpy="0 0 0" />
      <mass
        value="0.06910833" />
      <inertia
        ixx="0.0000174"
        ixy="0.00000000001"
        ixz="0.00000000001"
        iyy="0.00001677"
        iyz="0.00000013"
        izz="0.00000345" />
    </inertial>
    <visual>
      <origin
        xyz="0 0 0"
        rpy="0 0 0" />
      <geometry>
        <mesh
          filename="./left_hand_index_bend_link.stl" />
      </geometry>
      <material
        name="RAL_9005_Jet_Black">
        <color
          rgba="0.055 0.055 0.063 1" />
      </material>
    </visual>
    <!-- <collision>
      <origin
        xyz="0 0 0"
        rpy="0 0 0" />
      <geometry>
        <mesh
          filename="./left_hand_index_bend_collide_link.stl" />
      </geometry>
    </collision> -->
  </link>
  <joint
    name="left_hand_index_bend_joint"
    type="revolute">
    <origin
      xyz="0.0265 -0.0065 -0.0899"
      rpy="0 0 0" />
    <parent
      link="left_hand_link" />
    <child
      link="left_hand_index_bend_link" />
    <axis
      xyz="0 -1 0" />
    <limit
      lower="-0.174"
      upper="0.174"
      effort="0.4"
      velocity="14.38" />
    <dynamics
      damping="0"
      friction="0" />
  </joint>
  <link
    name="left_hand_index_rota_link1">
    <inertial>
      <origin
        xyz="-3.58049083604185E-05 -0.00053041759210529 -0.0332784671157223"
        rpy="0 0 0" />
      <mass
        value="0.06298297" />
      <inertia
        ixx="0.00001738"
        ixy="0.00000000001"
        ixz="-0.00000028"
        iyy="0.00001686"
        iyz="-0.00000019"
        izz="0.0000032" />
    </inertial>
    <visual>
      <origin
        xyz="0 0 0"
        rpy="0 0 0" />
      <geometry>
        <mesh
          filename="./left_hand_index_rota_link1.stl" />
      </geometry>
      <material
        name="RAL_9005_Jet_Black">
        <color
          rgba="0.055 0.055 0.063 1" />
      </material>
    </visual>
    <collision>
      <origin
        xyz="0 0 0"
        rpy="0 0 0" />
      <!-- <geometry>
        <mesh
          filename="./left_hand_index_rota_x_link1.stl" />
      </geometry> -->
      <geometry>
        <mesh
          filename="./left_hand_index_rota_link1.stl" />
      </geometry>

    </collision>
  </link>
  <joint
    name="left_hand_index_joint1"
    type="revolute">
    <origin
      xyz="0 0 -0.0178"
      rpy="0 0 0" />
    <parent
      link="left_hand_index_bend_link" />
    <child
      link="left_hand_index_rota_link1" />
    <axis
      xyz="-1 0 0" />
    <limit
      lower="0"
      upper="1.919"
      effort="1.1"
      velocity="8.63" />
    <dynamics
      damping="0"
      friction="0" />
  </joint>
  <link
    name="left_hand_index_rotaback_link1">
    <inertial>
      <origin
        xyz="0.00014803463945353 0.0115948039961551 0.0241234085631844"
        rpy="0 0 0" />
      <mass
        value="0.00000002" />
      <inertia
        ixx="0.00000000001"
        ixy="0.00000000001"
        ixz="0.00000000001"
        iyy="0.00000000001"
        iyz="0.00000000001"
        izz="0.00000000001" />
    </inertial>
    <visual>
      <origin
        xyz="0 0 0"
        rpy="0 0 0" />
      <geometry>
        <mesh
          filename="./left_hand_index_rotaback_link1.stl" />
      </geometry>
      <material
        name="RAL_9003_Signal_White">
        <color
          rgba="0.941 0.941 0.941 1" />
      </material>
    </visual>
    <collision>
      <origin
        xyz="0 0 0"
        rpy="0 0 0" />
      <geometry>
        <mesh
          filename="./left_hand_index_rotaback_link1.stl" />
      </geometry>
    </collision>
  </link>
  <joint
    name="left_hand_index_rotaback_joint1"
    type="fixed">
    <origin
      xyz="0 0 -0.0558000000000001"
      rpy="0 0 0" />
    <parent
      link="left_hand_index_rota_link1" />
    <child
      link="left_hand_index_rotaback_link1" />
    <axis
      xyz="0 0 0" />
    <dynamics
      damping="0"
      friction="0" />
  </joint>
  <link
    name="left_hand_index_rota_link2">
    <inertial>
      <origin
        xyz="0.000248361662016118 -0.00119905190206697 -0.0213789854478661"
        rpy="0 0 0" />
      <mass
        value="0.01588724" />
      <inertia
        ixx="0.00000277"
        ixy="0.00000000001"
        ixz="-0.00000012"
        iyy="0.00000283"
        iyz="-0.00000007"
        izz="0.00000085" />
    </inertial>
    <visual>
      <origin
        xyz="0 0 0"
        rpy="0 0 0" />
      <geometry>
        <mesh
          filename="./left_hand_index_rota_link2.stl" />
      </geometry>
      <material
        name="RAL_9005_Jet_Black">
        <color
          rgba="0.055 0.055 0.063 1" />
      </material>
    </visual>
    <collision>
      <origin
        xyz="0 0 0"
        rpy="0 0 0" />
      <geometry>
        <mesh
          filename="./left_hand_index_rota_link2.stl" />
      </geometry>
    </collision>
  </link>
  <joint
    name="left_hand_index_joint2"
    type="revolute">
    <origin
      xyz="0 0 -0.0558"
      rpy="0 0 0" />
    <parent
      link="left_hand_index_rota_link1" />
    <child
      link="left_hand_index_rota_link2" />
    <axis
      xyz="-1 0 0" />
    <limit
      lower="0"
      upper="1.919"
      effort="0.4"
      velocity="14.38" />
    <dynamics
      damping="0"
      friction="0" />
  </joint>
  <link
    name="left_hand_index_rotaback_link2">
    <inertial>
      <origin
        xyz="-0.000157950438605944 0.00758843721876324 0.017665521085575"
        rpy="0 0 0" />
      <mass
        value="0.00000001" />
      <inertia
        ixx="0.00000000001"
        ixy="0.00000000001"
        ixz="0.00000000001"
        iyy="0.00000000001"
        iyz="0.00000000001"
        izz="0.00000000001" />
    </inertial>
    <visual>
      <origin
        xyz="0 0 0"
        rpy="0 0 0" />
      <geometry>
        <mesh
          filename="./left_hand_index_rotaback_link2.stl" />
      </geometry>
      <material
        name="RAL_9003_Signal_White">
        <color
          rgba="0.941 0.941 0.941 1" />
      </material>
    </visual>
    <collision>
      <origin
        xyz="0 0 0"
        rpy="0 0 0" />
      <geometry>
        <mesh
          filename="./left_hand_index_rotaback_link2.stl" />
      </geometry>
    </collision>
  </link>
  <joint
    name="left_hand_index_rotaback_joint2"
    type="fixed">
    <origin
      xyz="0 0 -0.0422482924089404"
      rpy="0 0 0" />
    <parent
      link="left_hand_index_rota_link2" />
    <child
      link="left_hand_index_rotaback_link2" />
    <axis
      xyz="0 0 0" />
    <dynamics
      damping="0"
      friction="0" />
  </joint>
  <link
    name="left_hand_index_rota_tip">
    <inertial>
      <origin
        xyz="-1.00613961606655E-16 1.90819582357449E-17 0"
        rpy="0 0 0" />
      <mass
        value="0.00000565" />
      <inertia
        ixx="0.00000000001"
        ixy="0.00000000001"
        ixz="0.00000000001"
        iyy="0.00000000001"
        iyz="0.00000000001"
        izz="0.00000000001" />
    </inertial>
    <visual>
      <origin
        xyz="0 0 0"
        rpy="0 0 0" />
      <geometry>
        <mesh
          filename="./left_hand_index_rota_tip.stl" />
      </geometry>
      <material
        name="RAL_9005_Jet_Black">
        <color
          rgba="0.055 0.055 0.063 1" />
      </material>
    </visual>
    <collision>
      <origin
        xyz="0 0 0"
        rpy="0 0 0" />
      <geometry>
        <mesh
          filename="./left_hand_index_rota_tip.stl" />
      </geometry>
    </collision>
  </link>
  <joint
    name="left_hand_index_rota_joint3"
    type="fixed">
    <origin
      xyz="0 0 -0.0422482924089404"
      rpy="0 0 0" />
    <parent
      link="left_hand_index_rota_link2" />
    <child
      link="left_hand_index_rota_tip" />
    <axis
      xyz="0 0 0" />
    <dynamics
      damping="0"
      friction="0" />
  </joint>
  <link
    name="left_hand_mid_link1">
    <inertial>
      <origin
        xyz="-3.58049083603916E-05 -0.000530417592105155 -0.0332784671157224"
        rpy="0 0 0" />
      <mass
        value="0.06298297" />
      <inertia
        ixx="0.00001738"
        ixy="0.00000000001"
        ixz="-0.00000028"
        iyy="0.00001686"
        iyz="-0.00000019"
        izz="0.0000032" />
    </inertial>
    <visual>
      <origin
        xyz="0 0 0"
        rpy="0 0 0" />
      <geometry>
        <mesh
          filename="./left_hand_mid_link1.stl" />
      </geometry>
      <material
        name="RAL_9005_Jet_Black">
        <color
          rgba="0.055 0.055 0.063 1" />
      </material>
    </visual>
    <collision>
      <origin
        xyz="0 0 0"
        rpy="0 0 0" />
      <geometry>
        <mesh
          filename="./left_hand_mid_link1.stl" />
      </geometry>
    </collision>
  </link>
  <joint
    name="left_hand_mid_joint1"
    type="revolute">
    <origin
      xyz="0.004 -0.0065 -0.1082"
      rpy="0 0 0" />
    <parent
      link="left_hand_link" />
    <child
      link="left_hand_mid_link1" />
    <axis
      xyz="-1 0 0" />
    <limit
      lower="0"
      upper="1.919"
      effort="1.1"
      velocity="8.63" />
    <dynamics
      damping="0"
      friction="0" />
  </joint>
  <link
    name="left_hand_midback_link1">
    <inertial>
      <origin
        xyz="0.000148034858018445 0.0115948038778314 0.024123407735519"
        rpy="0 0 0" />
      <mass
        value="0.00000002" />
      <inertia
        ixx="0.00000000001"
        ixy="0.00000000001"
        ixz="0.00000000001"
        iyy="0.00000000001"
        iyz="0.00000000001"
        izz="0.00000000001" />
    </inertial>
    <visual>
      <origin
        xyz="0 0 0"
        rpy="0 0 0" />
      <geometry>
        <mesh
          filename="./left_hand_midback_link1.stl" />
      </geometry>
      <material
        name="RAL_9003_Signal_White">
        <color
          rgba="0.941 0.941 0.941 1" />
      </material>
    </visual>
    <collision>
      <origin
        xyz="0 0 0"
        rpy="0 0 0" />
      <geometry>
        <mesh
          filename="./left_hand_midback_link1.stl" />
      </geometry>
    </collision>
  </link>
  <joint
    name="left_hand_midback_joint1"
    type="fixed">
    <origin
      xyz="0 0 -0.0558000000000001"
      rpy="0 0 0" />
    <parent
      link="left_hand_mid_link1" />
    <child
      link="left_hand_midback_link1" />
    <axis
      xyz="0 0 0" />
    <dynamics
      damping="0"
      friction="0" />
  </joint>
  <link
    name="left_hand_mid_link2">
    <inertial>
      <origin
        xyz="0.000248361662016048 -0.00119905190206678 -0.0213789854478656"
        rpy="0 0 0" />
      <mass
        value="0.01588724" />
      <inertia
        ixx="0.00000277"
        ixy="0.00000000001"
        ixz="-0.00000012"
        iyy="0.00000283"
        iyz="-0.00000007"
        izz="0.00000085" />
    </inertial>
    <visual>
      <origin
        xyz="0 0 0"
        rpy="0 0 0" />
      <geometry>
        <mesh
          filename="./left_hand_mid_link2.stl" />
      </geometry>
      <material
        name="RAL_9005_Jet_Black">
        <color
          rgba="0.055 0.055 0.063 1" />
      </material>
    </visual>
    <collision>
      <origin
        xyz="0 0 0"
        rpy="0 0 0" />
      <geometry>
        <mesh
          filename="./left_hand_mid_link2.stl" />
      </geometry>
    </collision>
  </link>
  <joint
    name="left_hand_mid_joint2"
    type="revolute">
    <origin
      xyz="0 0 -0.0558"
      rpy="0 0 0" />
    <parent
      link="left_hand_mid_link1" />
    <child
      link="left_hand_mid_link2" />
    <axis
      xyz="-1 0 0" />
    <limit
      lower="0"
      upper="1.919"
      effort="0.4"
      velocity="14.38" />
    <dynamics
      damping="0"
      friction="0" />
  </joint>
  <link
    name="left_hand_midback_link2">
    <inertial>
      <origin
        xyz="-0.000157950438634382 0.00758843721877263 0.0176655210856587"
        rpy="0 0 0" />
      <mass
        value="0.00000001" />
      <inertia
        ixx="0.00000000001"
        ixy="0.00000000001"
        ixz="0.00000000001"
        iyy="0.00000000001"
        iyz="0.00000000001"
        izz="0.00000000001" />
    </inertial>
    <visual>
      <origin
        xyz="0 0 0"
        rpy="0 0 0" />
      <geometry>
        <mesh
          filename="./left_hand_midback_link2.stl" />
      </geometry>
      <material
        name="RAL_9003_Signal_White">
        <color
          rgba="0.941 0.941 0.941 1" />
      </material>
    </visual>
    <collision>
      <origin
        xyz="0 0 0"
        rpy="0 0 0" />
      <geometry>
        <mesh
          filename="./left_hand_midback_link2.stl" />
      </geometry>
    </collision>
  </link>
  <joint
    name="left_hand_midback_joint2"
    type="fixed">
    <origin
      xyz="0 0 -0.0422482924089403"
      rpy="0 0 0" />
    <parent
      link="left_hand_mid_link2" />
    <child
      link="left_hand_midback_link2" />
    <axis
      xyz="0 0 0" />
    <dynamics
      damping="0"
      friction="0" />
  </joint>
  <link
    name="left_hand_mid_tip">
    <inertial>
      <origin
        xyz="-1.90819582357449E-17 1.55257751099924E-16 0"
        rpy="0 0 0" />
      <mass
        value="0.00000565" />
      <inertia
        ixx="0.00000000001"
        ixy="0.00000000001"
        ixz="0.00000000001"
        iyy="0.00000000001"
        iyz="0.00000000001"
        izz="0.00000000001" />
    </inertial>
    <visual>
      <origin
        xyz="0 0 0"
        rpy="0 0 0" />
      <geometry>
        <mesh
          filename="./left_hand_mid_tip.stl" />
      </geometry>
      <material
        name="RAL_9005_Jet_Black">
        <color
          rgba="0.055 0.055 0.063 1" />
      </material>
    </visual>
    <collision>
      <origin
        xyz="0 0 0"
        rpy="0 0 0" />
      <geometry>
        <mesh
          filename="./left_hand_mid_tip.stl" />
      </geometry>
    </collision>
  </link>
  <joint
    name="left_hand_mid_joint3"
    type="fixed">
    <origin
      xyz="0 0 -0.0422482924089403"
      rpy="0 0 0" />
    <parent
      link="left_hand_mid_link2" />
    <child
      link="left_hand_mid_tip" />
    <axis
      xyz="0 0 0" />
    <dynamics
      damping="0"
      friction="0" />
  </joint>
  <link
    name="left_hand_ring_link1">
    <inertial>
      <origin
        xyz="-3.58049083603491E-05 -0.000530417592105894 -0.0332784671157224"
        rpy="0 0 0" />
      <mass
        value="0.06298297" />
      <inertia
        ixx="0.00001738"
        ixy="0.00000000001"
        ixz="-0.00000028"
        iyy="0.00001686"
        iyz="-0.00000019"
        izz="0.0000032" />
    </inertial>
    <visual>
      <origin
        xyz="0 0 0"
        rpy="0 0 0" />
      <geometry>
        <mesh
          filename="./left_hand_ring_link1.stl" />
      </geometry>
      <material
        name="RAL_9005_Jet_Black">
        <color
          rgba="0.055 0.055 0.063 1" />
      </material>
    </visual>
    <collision>
      <origin
        xyz="0 0 0"
        rpy="0 0 0" />
      <geometry>
        <mesh
          filename="./left_hand_ring_link1.stl" />
      </geometry>
    </collision>
  </link>
  <joint
    name="left_hand_ring_joint1"
    type="revolute">
    <origin
      xyz="-0.016 -0.0065 -0.1052"
      rpy="0 0 0" />
    <parent
      link="left_hand_link" />
    <child
      link="left_hand_ring_link1" />
    <axis
      xyz="-1 0 0" />
    <limit
      lower="0"
      upper="1.919"
      effort="1.1"
      velocity="8.63" />
    <dynamics
      damping="0"
      friction="0" />
  </joint>
  <link
    name="left_hand_ringback_link1">
    <inertial>
      <origin
        xyz="0.000148033930314071 0.0115948038916307 0.0241234089720673"
        rpy="0 0 0" />
      <mass
        value="0.00000002" />
      <inertia
        ixx="0.00000000001"
        ixy="0.00000000001"
        ixz="0.00000000001"
        iyy="0.00000000001"
        iyz="0.00000000001"
        izz="0.00000000001" />
    </inertial>
    <visual>
      <origin
        xyz="0 0 0"
        rpy="0 0 0" />
      <geometry>
        <mesh
          filename="./left_hand_ringback_link1.stl" />
      </geometry>
      <material
        name="RAL_9003_Signal_White">
        <color
          rgba="0.941 0.941 0.941 1" />
      </material>
    </visual>
    <collision>
      <origin
        xyz="0 0 0"
        rpy="0 0 0" />
      <geometry>
        <mesh
          filename="./left_hand_ringback_link1.stl" />
      </geometry>
    </collision>
  </link>
  <joint
    name="left_hand_ringback_joint1"
    type="fixed">
    <origin
      xyz="0 0 -0.0558000000000001"
      rpy="0 0 0" />
    <parent
      link="left_hand_ring_link1" />
    <child
      link="left_hand_ringback_link1" />
    <axis
      xyz="0 0 0" />
    <dynamics
      damping="0"
      friction="0" />
  </joint>
  <link
    name="left_hand_ring_link2">
    <inertial>
      <origin
        xyz="0.000248361662016028 -0.0011990519020675 -0.0213789854478657"
        rpy="0 0 0" />
      <mass
        value="0.01588724" />
      <inertia
        ixx="0.00000277"
        ixy="0.00000000001"
        ixz="-0.00000012"
        iyy="0.00000283"
        iyz="-0.00000007"
        izz="0.00000085" />
    </inertial>
    <visual>
      <origin
        xyz="0 0 0"
        rpy="0 0 0" />
      <geometry>
        <mesh
          filename="./left_hand_ring_link2.stl" />
      </geometry>
      <material
        name="RAL_9005_Jet_Black">
        <color
          rgba="0.055 0.055 0.063 1" />
      </material>
    </visual>
    <collision>
      <origin
        xyz="0 0 0"
        rpy="0 0 0" />
      <geometry>
        <mesh
          filename="./left_hand_ring_link2.stl" />
      </geometry>
    </collision>
  </link>
  <joint
    name="left_hand_ring_joint2"
    type="revolute">
    <origin
      xyz="0 0 -0.0558"
      rpy="0 0 0" />
    <parent
      link="left_hand_ring_link1" />
    <child
      link="left_hand_ring_link2" />
    <axis
      xyz="-1 0 0" />
    <limit
      lower="0"
      upper="1.919"
      effort="0.4"
      velocity="14.38" />
    <dynamics
      damping="0"
      friction="0" />
  </joint>
  <link
    name="left_hand_ringback_link2">
    <inertial>
      <origin
        xyz="-0.000157950438606443 0.00758843721877125 0.0176655210856417"
        rpy="0 0 0" />
      <mass
        value="0.00000001" />
      <inertia
        ixx="0.00000000001"
        ixy="0.00000000001"
        ixz="0.00000000001"
        iyy="0.00000000001"
        iyz="0.00000000001"
        izz="0.00000000001" />
    </inertial>
    <visual>
      <origin
        xyz="0 0 0"
        rpy="0 0 0" />
      <geometry>
        <mesh
          filename="./left_hand_ringback_link2.stl" />
      </geometry>
      <material
        name="RAL_9003_Signal_White">
        <color
          rgba="0.941 0.941 0.941 1" />
      </material>
    </visual>
    <collision>
      <origin
        xyz="0 0 0"
        rpy="0 0 0" />
      <geometry>
        <mesh
          filename="./left_hand_ringback_link2.stl" />
      </geometry>
    </collision>
  </link>
  <joint
    name="left_hand_ringback_joint2"
    type="fixed">
    <origin
      xyz="0 0 -0.0422482924089404"
      rpy="0 0 0" />
    <parent
      link="left_hand_ring_link2" />
    <child
      link="left_hand_ringback_link2" />
    <axis
      xyz="0 0 0" />
    <dynamics
      damping="0"
      friction="0" />
  </joint>
  <link
    name="left_hand_ring_tip">
    <inertial>
      <origin
        xyz="-4.85722573273506E-17 -5.31692745386891E-16 0"
        rpy="0 0 0" />
      <mass
        value="0.00000565" />
      <inertia
        ixx="0.00000000001"
        ixy="0.00000000001"
        ixz="0.00000000001"
        iyy="0.00000000001"
        iyz="0.00000000001"
        izz="0.00000000001" />
    </inertial>
    <visual>
      <origin
        xyz="0 0 0"
        rpy="0 0 0" />
      <geometry>
        <mesh
          filename="./left_hand_ring_tip.stl" />
      </geometry>
      <material
        name="RAL_9005_Jet_Black">
        <color
          rgba="0.055 0.055 0.063 1" />
      </material>
    </visual>
    <collision>
      <origin
        xyz="0 0 0"
        rpy="0 0 0" />
      <geometry>
        <mesh
          filename="./left_hand_ring_tip.stl" />
      </geometry>
    </collision>
  </link>
  <joint
    name="left_hand_ring_joint3"
    type="fixed">
    <origin
      xyz="0 0 -0.0422482924089404"
      rpy="0 0 0" />
    <parent
      link="left_hand_ring_link2" />
    <child
      link="left_hand_ring_tip" />
    <axis
      xyz="0 0 0" />
    <dynamics
      damping="0"
      friction="0" />
  </joint>
  <link
    name="left_hand_pinky_link1">
    <inertial>
      <origin
        xyz="-3.58049083603318E-05 -0.000530417592106195 -0.0332784671157224"
        rpy="0 0 0" />
      <mass
        value="0.06298297" />
      <inertia
        ixx="0.00001738"
        ixy="0.00000000001"
        ixz="-0.00000028"
        iyy="0.00001686"
        iyz="-0.00000019"
        izz="0.0000032" />
    </inertial>
    <visual>
      <origin
        xyz="0 0 0"
        rpy="0 0 0" />
      <geometry>
        <mesh
          filename="./left_hand_pinky_link1.stl" />
      </geometry>
      <material
        name="RAL_9005_Jet_Black">
        <color
          rgba="0.055 0.055 0.063 1" />
      </material>
    </visual>
    <collision>
      <origin
        xyz="0 0 0"
        rpy="0 0 0" />
      <geometry>
        <mesh
          filename="./left_hand_pinky_link1.stl" />
      </geometry>
    </collision>
  </link>
  <joint
    name="left_hand_pinky_joint1"
    type="revolute">
    <origin
      xyz="-0.036 -0.0065 -0.1022"
      rpy="0 0 0" />
    <parent
      link="left_hand_link" />
    <child
      link="left_hand_pinky_link1" />
    <axis
      xyz="-1 0 0" />
    <limit
      lower="0"
      upper="1.919"
      effort="1.1"
      velocity="8.63" />
    <dynamics
      damping="0"
      friction="0" />
  </joint>
  <link
    name="left_hand_pinkyback_link1">
    <inertial>
      <origin
        xyz="0.000148034877008783 0.0115948040346325 0.024123408080182"
        rpy="0 0 0" />
      <mass
        value="0.00000002" />
      <inertia
         ixx="0.00000000001"
        ixy="0.00000000001"
        ixz="0.00000000001"
        iyy="0.00000000001"
        iyz="0.00000000001"
        izz="0.00000000001"/>
    </inertial>
    <visual>
      <origin
        xyz="0 0 0"
        rpy="0 0 0" />
      <geometry>
        <mesh
          filename="./left_hand_pinkyback_link1.stl" />
      </geometry>
      <material
        name="RAL_9003_Signal_White">
        <color
          rgba="0.941 0.941 0.941 1" />
      </material>
    </visual>
    <collision>
      <origin
        xyz="0 0 0"
        rpy="0 0 0" />
      <geometry>
        <mesh
          filename="./left_hand_pinkyback_link1.stl" />
      </geometry>
    </collision>
  </link>
  <joint
    name="left_hand_pinkyback_joint1"
    type="fixed">
    <origin
      xyz="0 0 -0.0558000000000001"
      rpy="0 0 0" />
    <parent
      link="left_hand_pinky_link1" />
    <child
      link="left_hand_pinkyback_link1" />
    <axis
      xyz="0 0 0" />
    <dynamics
      damping="0"
      friction="0" />
  </joint>
  <link
    name="left_hand_pinky_link2">
    <inertial>
      <origin
        xyz="0.000248361696242753 -0.00119905185762272 -0.0213789857007834"
        rpy="0 0 0" />
      <mass
        value="0.01588724" />
      <inertia
        ixx="0.00000277"
        ixy="0.00000000001"
        ixz="-0.00000012"
        iyy="0.00000283"
        iyz="-0.00000007"
        izz="0.00000085" />
    </inertial>
    <visual>
      <origin
        xyz="0 0 0"
        rpy="0 0 0" />
      <geometry>
        <mesh
          filename="./left_hand_pinky_link2.stl" />
      </geometry>
      <material
        name="RAL_9005_Jet_Black">
        <color
          rgba="0.055 0.055 0.063 1" />
      </material>
    </visual>
    <collision>
      <origin
        xyz="0 0 0"
        rpy="0 0 0" />
      <geometry>
        <mesh
          filename="./left_hand_pinky_link2.stl" />
      </geometry>
    </collision>
  </link>
  <joint
    name="left_hand_pinky_joint2"
    type="revolute">
    <origin
      xyz="0 0 -0.0558"
      rpy="0 0 0" />
    <parent
      link="left_hand_pinky_link1" />
    <child
      link="left_hand_pinky_link2" />
    <axis
      xyz="-1 0 0" />
    <limit
      lower="0"
      upper="1.919"
      effort="0.4"
      velocity="14.38" />
    <dynamics
      damping="0"
      friction="0" />
  </joint>
  <link
    name="left_hand_pinkyback_link2">
    <inertial>
      <origin
        xyz="-0.0001579504385983 0.00758843721876557 0.0176655210856048"
        rpy="0 0 0" />
      <mass
        value="0.00000001" />
      <inertia
         ixx="0.00000000001"
        ixy="0.00000000001"
        ixz="0.00000000001"
        iyy="0.00000000001"
        iyz="0.00000000001"
        izz="0.00000000001"/>
    </inertial>
    <visual>
      <origin
        xyz="0 0 0"
        rpy="0 0 0" />
      <geometry>
        <mesh
          filename="./left_hand_pinkyback_link2.stl" />
      </geometry>
      <material
        name="RAL_9003_Signal_White">
        <color
          rgba="0.941 0.941 0.941 1" />
      </material>
    </visual>
    <collision>
      <origin
        xyz="0 0 0"
        rpy="0 0 0" />
      <geometry>
        <mesh
          filename="./left_hand_pinkyback_link2.stl" />
      </geometry>
    </collision>
  </link>
  <joint
    name="left_hand_pinkyback_joint2"
    type="fixed">
    <origin
      xyz="0 0 -0.0422482924089405"
      rpy="0 0 0" />
    <parent
      link="left_hand_pinky_link2" />
    <child
      link="left_hand_pinkyback_link2" />
    <axis
      xyz="0 0 0" />
    <dynamics
      damping="0"
      friction="0" />
  </joint>
  <link
    name="left_hand_pinky_tip">
    <inertial>
      <origin
        xyz="1.38777878078145E-17 -8.84708972748172E-16 2.77555756156289E-17"
        rpy="0 0 0" />
      <mass
        value="0.00000565" />
      <inertia
         ixx="0.00000000001"
        ixy="0.00000000001"
        ixz="0.00000000001"
        iyy="0.00000000001"
        iyz="0.00000000001"
        izz="0.00000000001"/>
    </inertial>
    <visual>
      <origin
        xyz="0 0 0"
        rpy="0 0 0" />
      <geometry>
        <mesh
          filename="./left_hand_pinky_tip.stl" />
      </geometry>
      <material
        name="RAL_9005_Jet_Black">
        <color
          rgba="0.055 0.055 0.063 1" />
      </material>
    </visual>
    <collision>
      <origin
        xyz="0 0 0"
        rpy="0 0 0" />
      <geometry>
        <mesh
          filename="./left_hand_pinky_tip.stl" />
      </geometry>
    </collision>
  </link>
  <joint
    name="left_hand_pinky_joint3"
    type="fixed">
    <origin
      xyz="0 0 -0.0422482924089405"
      rpy="0 0 0" />
    <parent
      link="left_hand_pinky_link2" />
    <child
      link="left_hand_pinky_tip" />
    <axis
      xyz="0 0 0" />
    <dynamics
      damping="0"
      friction="0" />
  </joint>

<link
    name="right_hand_link">
    <inertial>
      <origin
        xyz="-0.00366836214548078 0.0100351220466308 -0.0582695185384578"
        rpy="0 0 0" />
      <mass
        value="0.53903004" />
      <inertia
        ixx="0.00046462"
        ixy="0.00000004"
        ixz="-0.00005128"
        iyy="0.00064214"
        iyz="0.00000217"
        izz="0.00027541" />
    </inertial>
    <visual>
      <origin
        xyz="0 0 0"
        rpy="0 0 0" />
      <geometry>
        <mesh
          filename="./right_hand_link.stl" />
      </geometry>
      <material
        name="RAL_9005_Jet_Black">
        <color
          rgba="0.055 0.055 0.063 1.0" />
      </material>
    </visual>
    <collision>
      <origin
        xyz="0 0 0"
        rpy="0 0 0" />
      <geometry>
        <mesh
          filename="./right_hand_link.stl" />
      </geometry>
    </collision>
  </link>
  <link
    name="right_hand_ee_link">
    <inertial>
      <origin
        xyz="2.48510213245214E-19 -8.08284973285247E-18 0"
        rpy="0 0 0" />
      <mass
        value="0.00000565" />
      <inertia
        ixx="0.00000000001"
        ixy="0.00000000001"
        ixz="0.00000000001"
        iyy="0.00000000001"
        iyz="0.00000000001"
        izz="0.00000000001" />
    </inertial>
    <visual>
      <origin
        xyz="0 0 0"
        rpy="0 0 0" />
      <geometry>
        <mesh
          filename="./right_hand_ee_link.stl" />
      </geometry>
      <material
        name="RAL_9005_Jet_Black">
        <color
          rgba="0.055 0.055 0.063 1.0" />
      </material>
    </visual>
    <collision>
      <origin
        xyz="0 0 0"
        rpy="0 0 0" />
      <geometry>
        <mesh
          filename="./right_hand_ee_link.stl" />
      </geometry>
    </collision>
  </link>
  <joint
    name="right_hand_ee_joint"
    type="fixed">
    <origin
      xyz="0 0 -0.065"
      rpy="0 0 0" />
    <parent
      link="right_hand_link" />
    <child
      link="right_hand_ee_link" />
    <axis
      xyz="0 0 0" />
    <dynamics
      damping="0"
      friction="0" />
  </joint>
  <link
    name="right_hand_back_link">
    <inertial>
      <origin
        xyz="-0.00149243508011096 -0.0140081556490721 0.000647100828228067"
        rpy="0 0 0" />
      <mass
        value="0.00000020" />
      <inertia
        ixx="0.00000000001"
        ixy="0.00000000001"
        ixz="0.00000000001"
        iyy="0.00000000001"
        iyz="0.00000000001"
        izz="0.00000000001" />
    </inertial>
    <visual>
      <origin
        xyz="0 0 0"
        rpy="0 0 0" />
      <geometry>
        <mesh
          filename="./right_hand_back_link.stl" />
      </geometry>
      <material
        name="RAL_9003_Signal_White">
        <color
          rgba="0.941 0.941 0.941 1.0" />
      </material>
    </visual>
    <collision>
      <origin
        xyz="0 0 0"
        rpy="0 0 0" />
      <geometry>
        <mesh
          filename="./right_hand_back_link.stl" />
      </geometry>
    </collision>
  </link>
  <joint
    name="right_hand_back_joint"
    type="fixed">
    <origin
      xyz="0 0 -0.065"
      rpy="0 0 0" />
    <parent
      link="right_hand_link" />
    <child
      link="right_hand_back_link" />
    <axis
      xyz="0 0 0" />
    <dynamics
      damping="0"
      friction="0" />
  </joint>
  <link
    name="right_hand_thumb_bend_link">
    <inertial>
      <origin
        xyz="0.0144358799903648 -0.00116534489100676 -5.40665183231849E-05"
        rpy="0 0 0" />
      <mass
        value="0.01174632" />
      <inertia
        ixx="0.00000062"
        ixy="-0.00000004"
        ixz="-0.00000007"
        iyy="0.0000016"
        iyz="0.00000000001"
        izz="0.00000162" />
    </inertial>
    <visual>
      <origin
        xyz="0 0 0"
        rpy="0 0 0" />
      <geometry>
        <mesh
          filename="./right_hand_thumb_bend_link.stl" />
      </geometry>
      <material
        name="RAL_9005_Jet_Black">
        <color
          rgba="0.055 0.055 0.063 1.0" />
      </material>
    </visual>
    <collision>
      <origin
        xyz="0 0 0"
        rpy="0 0 0" />
      <geometry>
        <mesh
          filename="./right_hand_thumb_bend_link.stl" />
      </geometry>
    </collision>
  </link>
  <joint
    name="right_hand_thumb_bend_joint"
    type="revolute">
    <origin
      xyz="0.0228 0.0095 -0.0305"
      rpy="0 0 0" />
    <parent
      link="right_hand_link" />
    <child
      link="right_hand_thumb_bend_link" />
    <axis
      xyz="0 0 1" />
    <limit
      lower="0"
      upper="1.832"
      effort="1.1"
      velocity="8.63" />
    <dynamics
      damping="0"
      friction="0" />
  </joint>
  <link
    name="right_hand_thumb_rota_link1">
    <inertial>
      <origin
        xyz="0.0287681482733488 -0.00036176529547633 -0.00133929681686046"
        rpy="0 0 0" />
      <mass
        value="0.13266642" />
      <inertia
        ixx="0.00001699"
        ixy="-0.00000791"
        ixz="-0.00000182"
        iyy="0.00003679"
        iyz="-0.00000196"
        izz="0.00004374" />
    </inertial>
    <visual>
      <origin
        xyz="0 0 0"
        rpy="0 0 0" />
      <geometry>
        <mesh
          filename="./right_hand_thumb_rota_link1.stl" />
      </geometry>
      <material
        name="RAL_9005_Jet_Black">
        <color
          rgba="0.055 0.055 0.063 1.0" />
      </material>
    </visual>
    <collision>
      <origin
        xyz="0 0 0"
        rpy="0 0 0" />
      <geometry>
        <mesh
          filename="./right_hand_thumb_rota_link1.stl" />
      </geometry>
    </collision>
  </link>
  <joint
    name="right_hand_thumb_rota_joint1"
    type="revolute">
    <origin
      xyz="0.028599 0.0083177 0.00178"
      rpy="0.2618 0 0.0407" />
    <parent
      link="right_hand_thumb_bend_link" />
    <child
      link="right_hand_thumb_rota_link1" />
    <axis
      xyz="0 1 0" />
    <limit
      lower="-0.698"
      upper="1.745"
      effort="1.1"
      velocity="8.63" />
    <dynamics
      damping="0"
      friction="0" />
  </joint>
  <link
    name="right_hand_thumb_rotaback_link1">
    <inertial>
      <origin
        xyz="-0.0296289408411864 0.0014334239435258 0.00759117850867843"
        rpy="0 0 0" />
      <mass
        value="0.00000006" />
      <inertia
        ixx="0.00000000001"
        ixy="0.00000000001"
        ixz="0.00000000001"
        iyy="0.00000000001"
        iyz="0.00000000001"
        izz="0.00000000001" />
    </inertial>
    <visual>
      <origin
        xyz="0 0 0"
        rpy="0 0 0" />
      <geometry>
        <mesh
          filename="./right_hand_thumb_rotaback_link1.stl" />
      </geometry>
      <material
        name="RAL_9003_Signal_White">
        <color
          rgba="0.941 0.941 0.941 1.0" />
      </material>
    </visual>
    <collision>
      <origin
        xyz="0 0 0"
        rpy="0 0 0" />
      <geometry>
        <mesh
          filename="./right_hand_thumb_rotaback_link1.stl" />
      </geometry>
    </collision>
  </link>
  <joint
    name="right_hand_thumb_rotaback_joint1"
    type="fixed">
    <origin
      xyz="0.0553000000000007 0 0"
      rpy="0 0 0" />
    <parent
      link="right_hand_thumb_rota_link1" />
    <child
      link="right_hand_thumb_rotaback_link1" />
    <axis
      xyz="0 0 0" />
    <dynamics
      damping="0"
      friction="0" />
  </joint>
  <link
    name="right_hand_thumb_rota_link2">
    <inertial>
      <origin
        xyz="0.0225340009927979 -0.000881600697645881 -0.000614548321208525"
        rpy="0 0 0" />
      <mass
        value="0.04336091" />
      <inertia
        ixx="0.00000388"
        ixy="0.00000000001"
        ixz="0.00000015"
        iyy="0.00000902"
        iyz="-0.00000042"
        izz="0.00001046" />
    </inertial>
    <visual>
      <origin
        xyz="0 0 0"
        rpy="0 0 0" />
      <geometry>
        <mesh
          filename="./right_hand_thumb_rota_link2.stl" />
      </geometry>
      <material
        name="RAL_9005_Jet_Black">
        <color
          rgba="0.055 0.055 0.063 1.0" />
      </material>
    </visual>
    <collision>
      <origin
        xyz="0 0 0"
        rpy="0 0 0" />
      <geometry>
        <mesh
          filename="./right_hand_thumb_rota_link2.stl" />
      </geometry>
    </collision>
  </link>
  <joint
    name="right_hand_thumb_rota_joint2"
    type="revolute">
    <origin
      xyz="0.0553 0 0"
      rpy="0 0 0" />
    <parent
      link="right_hand_thumb_rota_link1" />
    <child
      link="right_hand_thumb_rota_link2" />
    <axis
      xyz="0 1 0" />
    <limit
      lower="0"
      upper="1.745"
      effort="0.4"
      velocity="14.38" />
    <dynamics
      damping="0"
      friction="0" />
  </joint>
  <link
    name="right_hand_thumb_rotaback_link2">
    <inertial>
      <origin
        xyz="-0.0258393463672562 -0.000532639688528967 0.00924631171368789"
        rpy="0 0 0" />
      <mass
        value="0.00000004" />
      <inertia
        ixx="0.00000000001"
        ixy="0.00000000001"
        ixz="0.00000000001"
        iyy="0.00000000001"
        iyz="0.00000000001"
        izz="0.00000000001" />
    </inertial>
    <visual>
      <origin
        xyz="0 0 0"
        rpy="0 0 0" />
      <geometry>
        <mesh
          filename="./right_hand_thumb_rotaback_link2.stl" />
      </geometry>
      <material
        name="RAL_9003_Signal_White">
        <color
          rgba="0.941 0.941 0.941 1.0" />
      </material>
    </visual>
    <collision>
      <origin
        xyz="0 0 0"
        rpy="0 0 0" />
      <geometry>
        <mesh
          filename="./right_hand_thumb_rotaback_link2.stl" />
      </geometry>
    </collision>
  </link>
  <joint
    name="right_hand_thumb_rotaback_joint2"
    type="fixed">
    <origin
      xyz="0.0502276499414862 0 0"
      rpy="0 0 0" />
    <parent
      link="right_hand_thumb_rota_link2" />
    <child
      link="right_hand_thumb_rotaback_link2" />
    <axis
      xyz="0 0 0" />
    <dynamics
      damping="0"
      friction="0" />
  </joint>
  <link
    name="right_hand_thumb_rota_tip">
    <inertial>
      <origin
        xyz="8.32667268468867E-17 -8.67361737988404E-19 -5.55111512312578E-17"
        rpy="0 0 0" />
      <mass
        value="0.00000565" />
      <inertia
        ixx="0.00000000001"
        ixy="0.00000000001"
        ixz="0.00000000001"
        iyy="0.00000000001"
        iyz="0.00000000001"
        izz="0.00000000001" />
    </inertial>
    <visual>
      <origin
        xyz="0 0 0"
        rpy="0 0 0" />
      <geometry>
        <mesh
          filename="./right_hand_thumb_rota_tip.stl" />
      </geometry>
      <material
        name="RAL_9005_Jet_Black">
        <color
          rgba="0.055 0.055 0.063 1.0" />
      </material>
    </visual>
    <collision>
      <origin
        xyz="0 0 0"
        rpy="0 0 0" />
      <geometry>
        <mesh
          filename="./right_hand_thumb_rota_tip.stl" />
      </geometry>
    </collision>
  </link>
  <joint
    name="right_hand_thumb_rota_joint3"
    type="fixed">
    <origin
      xyz="0.0502276499414862 0 0"
      rpy="0 0 0" />
    <parent
      link="right_hand_thumb_rota_link2" />
    <child
      link="right_hand_thumb_rota_tip" />
    <axis
      xyz="0 0 0" />
    <dynamics
      damping="0"
      friction="0" />
  </joint>
  <link
    name="right_hand_index_bend_link">
    <inertial>
      <origin
        xyz="0.000118997558760787 -0.000715851164577269 -0.0111903014853532"
        rpy="0 0 0" />
      <mass
        value="0.06910833" />
      <inertia
        ixx="0.0000174"
        ixy="0.00000001"
        ixz="0.00000014"
        iyy="0.00001677"
        iyz="-0.00000012"
        izz="0.00000345" />
    </inertial>
    <visual>
      <origin
        xyz="0 0 0"
        rpy="0 0 0" />
      <geometry>
        <mesh
          filename="./right_hand_index_bend_link.stl" />
      </geometry>
      <material
        name="RAL_9005_Jet_Black">
        <color
          rgba="0.055 0.055 0.063 1.0" />
      </material>
    </visual>
    <collision>
      <origin
        xyz="0 0 0"
        rpy="0 0 0" />
      <geometry>
        <mesh
          filename="./right_hand_index_bend_link.stl" />
      </geometry>
    </collision>
  </link>
  <joint
    name="right_hand_index_bend_joint"
    type="revolute">
    <origin
      xyz="0.0265 0.0065 -0.0899"
      rpy="0 0 0" />
    <parent
      link="right_hand_link" />
    <child
      link="right_hand_index_bend_link" />
    <axis
      xyz="0 -1 0" />
    <limit
      lower="-0.174"
      upper="0.174"
      effort="0.4"
      velocity="14.38" />
    <dynamics
      damping="0"
      friction="0" />
  </joint>
  <link
    name="right_hand_index_rota_link1">
    <inertial>
      <origin
        xyz="0.000133008106573459 0.000632930512954057 -0.0355868719939061"
        rpy="0 0 0" />
      <mass
        value="0.06298297" />
      <inertia
        ixx="0.00001738"
        ixy="0.00000000001"
        ixz="0.00000028"
        iyy="0.00001686"
        iyz="0.00000019"
        izz="0.0000032" />
    </inertial>
    <visual>
      <origin
        xyz="0 0 0"
        rpy="0 0 0" />
      <geometry>
        <mesh
          filename="./right_hand_index_rota_link1.stl" />
      </geometry>
      <material
        name="RAL_9005_Jet_Black">
        <color
          rgba="0.055 0.055 0.063 1" />
      </material>
    </visual>
    <collision>
      <origin
        xyz="0 0 0"
        rpy="0 0 0" />
      <geometry>
        <mesh
          filename="./right_hand_index_rota_link1.stl" />
      </geometry>
    </collision>
  </link>
  <joint
    name="right_hand_index_joint1"
    type="revolute">
    <origin
      xyz="0 0 -0.0178"
      rpy="0 0 0" />
    <parent
      link="right_hand_index_bend_link" />
    <child
      link="right_hand_index_rota_link1" />
    <axis
      xyz="1 0 0" />
    <limit
      lower="0"
      upper="1.919"
      effort="1.1"
      velocity="8.63" />
    <dynamics
      damping="0"
      friction="0" />
  </joint>
  <link
    name="right_hand_index_rotaback_link1">
    <inertial>
      <origin
        xyz="-0.000148035114615745 -0.0115948040516035 0.0241234077593065"
        rpy="0 0 0" />
      <mass
        value="0.00000002" />
      <inertia
        ixx="0.00000000001"
        ixy="0.00000000001"
        ixz="0.00000000001"
        iyy="0.00000000001"
        iyz="0.00000000001"
        izz="0.00000000001" />
    </inertial>
    <visual>
      <origin
        xyz="0 0 0"
        rpy="0 0 0" />
      <geometry>
        <mesh
          filename="./right_hand_index_rotaback_link1.stl" />
      </geometry>
      <material
        name="RAL_9003_Signal_White">
        <color
          rgba="0.941 0.941 0.941 1" />
      </material>
    </visual>
    <collision>
      <origin
        xyz="0 0 0"
        rpy="0 0 0" />
      <geometry>
        <mesh
          filename="./right_hand_index_rotaback_link1.stl" />
      </geometry>
    </collision>
  </link>
  <joint
    name="right_hand_index_rotaback_joint1"
    type="fixed">
    <origin
      xyz="0 0 -0.0557999999999955"
      rpy="0 0 0" />
    <parent
      link="right_hand_index_rota_link1" />
    <child
      link="right_hand_index_rotaback_link1" />
    <axis
      xyz="0 0 0" />
    <dynamics
      damping="0"
      friction="0" />
  </joint>
  <link
    name="right_hand_index_rota_link2">
    <inertial>
      <origin
        xyz="-0.000248361661985549 0.00119905190206764 -0.0213789854478675"
        rpy="0 0 0" />
      <mass
        value="0.01588724" />
      <inertia
        ixx="0.00000277"
        ixy="0.00000000001"
        ixz="0.00000012"
        iyy="0.00000283"
        iyz="0.00000007"
        izz="0.00000085" />
    </inertial>
    <visual>
      <origin
        xyz="0 0 0"
        rpy="0 0 0" />
      <geometry>
        <mesh
          filename="./right_hand_index_rota_link2.stl" />
      </geometry>
      <material
        name="RAL_9005_Jet_Black">
        <color
          rgba="0.055 0.055 0.063 1" />
      </material>
    </visual>
    <collision>
      <origin
        xyz="0 0 0"
        rpy="0 0 0" />
      <geometry>
        <mesh
          filename="./right_hand_index_rota_link2.stl" />
      </geometry>
    </collision>
  </link>
  <joint
    name="right_hand_index_joint2"
    type="revolute">
    <origin
      xyz="0 0 -0.0558"
      rpy="0 0 0" />
    <parent
      link="right_hand_index_rota_link1" />
    <child
      link="right_hand_index_rota_link2" />
    <axis
      xyz="1 0 0" />
    <limit
      lower="0"
      upper="1.919"
      effort="0.4"
      velocity="14.38" />
    <dynamics
      damping="0"
      friction="0" />
  </joint>
  <link
    name="right_hand_index_rotaback_link2">
    <inertial>
      <origin
        xyz="0.00015795043863779 -0.00758843721876498 0.017665521085611"
        rpy="0 0 0" />
      <mass
        value="0.00000001" />
      <inertia
        ixx="0.00000000001"
        ixy="0.00000000001"
        ixz="0.00000000001"
        iyy="0.00000000001"
        iyz="0.00000000001"
        izz="0.00000000001" />
    </inertial>
    <visual>
      <origin
        xyz="0 0 0"
        rpy="0 0 0" />
      <geometry>
        <mesh
          filename="./right_hand_index_rotaback_link2.stl" />
      </geometry>
      <material
        name="RAL_9003_Signal_White">
        <color
          rgba="0.941 0.941 0.941 1" />
      </material>
    </visual>
    <collision>
      <origin
        xyz="0 0 0"
        rpy="0 0 0" />
      <geometry>
        <mesh
          filename="./right_hand_index_rotaback_link2.stl" />
      </geometry>
    </collision>
  </link>
  <joint
    name="right_hand_index_rotaback_joint2"
    type="fixed">
    <origin
      xyz="0 0 -0.0422482924089416"
      rpy="0 0 0" />
    <parent
      link="right_hand_index_rota_link2" />
    <child
      link="right_hand_index_rotaback_link2" />
    <axis
      xyz="0 0 0" />
    <dynamics
      damping="0"
      friction="0" />
  </joint>
  <link
    name="right_hand_index_rota_tip">
    <inertial>
      <origin
        xyz="3.70675712346724E-14 8.65627014512427E-16 -8.32667268468867E-16"
        rpy="0 0 0" />
      <mass
        value="0.00000565" />
      <inertia
        ixx="0.00000000001"
        ixy="0.00000000001"
        ixz="0.00000000001"
        iyy="0.00000000001"
        iyz="0.00000000001"
        izz="0.00000000001" />
    </inertial>
    <visual>
      <origin
        xyz="0 0 0"
        rpy="0 0 0" />
      <geometry>
        <mesh
          filename="./right_hand_index_rota_tip.stl" />
      </geometry>
      <material
        name="RAL_9005_Jet_Black">
        <color
          rgba="0.055 0.055 0.063 1" />
      </material>
    </visual>
    <collision>
      <origin
        xyz="0 0 0"
        rpy="0 0 0" />
      <geometry>
        <mesh
          filename="./right_hand_index_rota_tip.stl" />
      </geometry>
    </collision>
  </link>
  <joint
    name="right_hand_index_rota_joint3"
    type="fixed">
    <origin
      xyz="0 0 -0.0422482924089416"
      rpy="0 0 0" />
    <parent
      link="right_hand_index_rota_link2" />
    <child
      link="right_hand_index_rota_tip" />
    <axis
      xyz="0 0 0" />
    <dynamics
      damping="0"
      friction="0" />
  </joint>
  <link
    name="right_hand_mid_link1">
    <inertial>
      <origin
        xyz="3.58049083993136E-05 0.000530417592106078 -0.0332784671157236"
        rpy="0 0 0" />
      <mass
        value="0.06298297" />
      <inertia
        ixx="0.00001738"
        ixy="0.00000000001"
        ixz="0.00000028"
        iyy="0.00001686"
        iyz="0.00000019"
        izz="0.0000032" />
    </inertial>
    <visual>
      <origin
        xyz="0 0 0"
        rpy="0 0 0" />
      <geometry>
        <mesh
          filename="./right_hand_mid_link1.stl" />
      </geometry>
      <material
        name="RAL_9005_Jet_Black">
        <color
          rgba="0.055 0.055 0.063 1" />
      </material>
    </visual>
    <collision>
      <origin
        xyz="0 0 0"
        rpy="0 0 0" />
      <geometry>
        <mesh
          filename="./right_hand_mid_link1.stl" />
      </geometry>
    </collision>
  </link>
  <joint
    name="right_hand_mid_joint1"
    type="revolute">
    <origin
      xyz="0.004 0.0065 -0.1082"
      rpy="0 0 0" />
    <parent
      link="right_hand_link" />
    <child
      link="right_hand_mid_link1" />
    <axis
      xyz="1 0 0" />
    <limit
      lower="0"
      upper="1.919"
      effort="1.1"
      velocity="8.63" />
    <dynamics
      damping="0"
      friction="0" />
  </joint>
  <link
    name="right_hand_midback_link1">
    <inertial>
      <origin
        xyz="-0.000148035028410428 -0.0115948040189855 0.0241234086343709"
        rpy="0 0 0" />
      <mass
        value="0.00000002" />
      <inertia
        ixx="0.00000000001"
        ixy="0.00000000001"
        ixz="0.00000000001"
        iyy="0.00000000001"
        iyz="0.00000000001"
        izz="0.00000000001" />
    </inertial>
    <visual>
      <origin
        xyz="0 0 0"
        rpy="0 0 0" />
      <geometry>
        <mesh
          filename="./right_hand_midback_link1.stl" />
      </geometry>
      <material
        name="RAL_9003_Signal_White">
        <color
          rgba="0.941 0.941 0.941 1" />
      </material>
    </visual>
    <collision>
      <origin
        xyz="0 0 0"
        rpy="0 0 0" />
      <geometry>
        <mesh
          filename="./right_hand_midback_link1.stl" />
      </geometry>
    </collision>
  </link>
  <joint
    name="right_hand_midback_joint1"
    type="fixed">
    <origin
      xyz="0 0 -0.0558"
      rpy="0 0 0" />
    <parent
      link="right_hand_mid_link1" />
    <child
      link="right_hand_midback_link1" />
    <axis
      xyz="0 0 0" />
    <dynamics
      damping="0"
      friction="0" />
  </joint>
  <link
    name="right_hand_mid_link2">
    <inertial>
      <origin
        xyz="-0.000248364601983051 0.00119905076177324 -0.0213789908421273"
        rpy="0 0 0" />
      <mass
        value="0.01624108" />
      <inertia
        ixx="0.00000281"
        ixy="0.00000000001"
        ixz="0.00000012"
        iyy="0.00000287"
        iyz="0.00000007"
        izz="0.00000086" />
    </inertial>
    <visual>
      <origin
        xyz="0 0 0"
        rpy="0 0 0" />
      <geometry>
        <mesh
          filename="./right_hand_mid_link2.stl" />
      </geometry>
      <material
        name="RAL_9005_Jet_Black">
        <color
          rgba="0.055 0.055 0.063 1" />
      </material>
    </visual>
    <collision>
      <origin
        xyz="0 0 0"
        rpy="0 0 0" />
      <geometry>
        <mesh
          filename="./right_hand_mid_link2.stl" />
      </geometry>
    </collision>
  </link>
  <joint
    name="right_hand_mid_joint2"
    type="revolute">
    <origin
      xyz="0 0 -0.0558"
      rpy="0 0 0" />
    <parent
      link="right_hand_mid_link1" />
    <child
      link="right_hand_mid_link2" />
    <axis
      xyz="1 0 0" />
    <limit
      lower="0"
      upper="1.919"
      effort="0.4"
      velocity="14.38" />
    <dynamics
      damping="0"
      friction="0" />
  </joint>
  <link
    name="right_hand_midback_link2">
    <inertial>
      <origin
        xyz="0.000157950438652398 -0.00758843721877396 0.0176655210856773"
        rpy="0 0 0" />
      <mass
        value="0.00000001" />
      <inertia
        ixx="0.00000000001"
        ixy="0.00000000001"
        ixz="0.00000000001"
        iyy="0.00000000001"
        iyz="0.00000000001"
        izz="0.00000000001" />
    </inertial>
    <visual>
      <origin
        xyz="0 0 0"
        rpy="0 0 0" />
      <geometry>
        <mesh
          filename="./right_hand_midback_link2.stl" />
      </geometry>
      <material
        name="RAL_9003_Signal_White">
        <color
          rgba="0.941 0.941 0.941 1" />
      </material>
    </visual>
    <collision>
      <origin
        xyz="0 0 0"
        rpy="0 0 0" />
      <geometry>
        <mesh
          filename="./right_hand_midback_link2.stl" />
      </geometry>
    </collision>
  </link>
  <joint
    name="right_hand_midback_joint2"
    type="fixed">
    <origin
      xyz="0 0 -0.042248"
      rpy="0 0 0" />
    <parent
      link="right_hand_mid_link2" />
    <child
      link="right_hand_midback_link2" />
    <axis
      xyz="0 0 0" />
    <dynamics
      damping="0"
      friction="0" />
  </joint>
  <link
    name="right_hand_mid_tip">
    <inertial>
      <origin
        xyz="5.97126514900737E-14 5.86336534880161E-16 -8.32667268468867E-16"
        rpy="0 0 0" />
      <mass
        value="0.00000565" />
      <inertia
        ixx="0.00000000001"
        ixy="0.00000000001"
        ixz="0.00000000001"
        iyy="0.00000000001"
        iyz="0.00000000001"
        izz="0.00000000001" />
    </inertial>
    <visual>
      <origin
        xyz="0 0 0"
        rpy="0 0 0" />
      <geometry>
        <mesh
          filename="./right_hand_mid_tip.stl" />
      </geometry>
      <material
        name="RAL_9005_Jet_Black">
        <color
          rgba="0.055 0.055 0.063 1" />
      </material>
    </visual>
    <collision>
      <origin
        xyz="0 0 0"
        rpy="0 0 0" />
      <geometry>
        <mesh
          filename="./right_hand_mid_tip.stl" />
      </geometry>
    </collision>
  </link>
  <joint
    name="right_hand_mid_joint3"
    type="fixed">
    <origin
      xyz="0 0 -0.0422482924089417"
      rpy="0 0 0" />
    <parent
      link="right_hand_mid_link2" />
    <child
      link="right_hand_mid_tip" />
    <axis
      xyz="0 0 0" />
    <dynamics
      damping="0"
      friction="0" />
  </joint>
  <link
    name="right_hand_ring_link1">
    <inertial>
      <origin
        xyz="3.58049083615322E-05 0.000530417592105594 -0.0332784671157224"
        rpy="0 0 0" />
      <mass
        value="0.06298297" />
      <inertia
        ixx="0.00001738"
        ixy="0.00000000001"
        ixz="0.00000028"
        iyy="0.00001686"
        iyz="0.00000019"
        izz="0.0000032" />
    </inertial>
    <visual>
      <origin
        xyz="0 0 0"
        rpy="0 0 0" />
      <geometry>
        <mesh
          filename="./right_hand_ring_link1.stl" />
      </geometry>
      <material
        name="RAL_9005_Jet_Black">
        <color
          rgba="0.055 0.055 0.063 1" />
      </material>
    </visual>
    <collision>
      <origin
        xyz="0 0 0"
        rpy="0 0 0" />
      <geometry>
        <mesh
          filename="./right_hand_ring_link1.stl" />
      </geometry>
    </collision>
  </link>
  <joint
    name="right_hand_ring_joint1"
    type="revolute">
    <origin
      xyz="-0.016 0.0065 -0.1052"
      rpy="0 0 0" />
    <parent
      link="right_hand_link" />
    <child
      link="right_hand_ring_link1" />
    <axis
      xyz="1 0 0" />
    <limit
      lower="0"
      upper="1.919"
      effort="1.1"
      velocity="8.63" />
    <dynamics
      damping="0"
      friction="0" />
  </joint>
  <link
    name="right_hand_ringback_link1">
    <inertial>
      <origin
        xyz="-0.000148033469798928 -0.0115948018402145 0.0241234223266379"
        rpy="0 0 0" />
      <mass
        value="0.00000002" />
      <inertia
        ixx="0.00000000001"
        ixy="0.00000000001"
        ixz="0.00000000001"
        iyy="0.00000000001"
        iyz="0.00000000001"
        izz="0.00000000001" />
    </inertial>
    <visual>
      <origin
        xyz="0 0 0"
        rpy="0 0 0" />
      <geometry>
        <mesh
          filename="./right_hand_ringback_link1.stl" />
      </geometry>
      <material
        name="RAL_9003_Signal_White">
        <color
          rgba="0.941 0.941 0.941 1" />
      </material>
    </visual>
    <collision>
      <origin
        xyz="0 0 0"
        rpy="0 0 0" />
      <geometry>
        <mesh
          filename="./right_hand_ringback_link1.stl" />
      </geometry>
    </collision>
  </link>
  <joint
    name="right_hand_ringback_joint1"
    type="fixed">
    <origin
      xyz="0 0 -0.0558000000000002"
      rpy="0 0 0" />
    <parent
      link="right_hand_ring_link1" />
    <child
      link="right_hand_ringback_link1" />
    <axis
      xyz="0 0 0" />
    <dynamics
      damping="0"
      friction="0" />
  </joint>
  <link
    name="right_hand_ring_link2">
    <inertial>
      <origin
        xyz="-0.000248364602035429 0.00119905076177346 -0.0213789908421257"
        rpy="0 0 0" />
      <mass
        value="0.01624108" />
      <inertia
        ixx="0.00000281"
        ixy="0.00000000001"
        ixz="0.00000012"
        iyy="0.00000287"
        iyz="0.00000007"
        izz="0.00000086" />
    </inertial>
    <visual>
      <origin
        xyz="0 0 0"
        rpy="0 0 0" />
      <geometry>
        <mesh
          filename="./right_hand_ring_link2.stl" />
      </geometry>
      <material
        name="RAL_9005_Jet_Black">
        <color
          rgba="0.055 0.055 0.063 1" />
      </material>
    </visual>
    <collision>
      <origin
        xyz="0 0 0"
        rpy="0 0 0" />
      <geometry>
        <mesh
          filename="./right_hand_ring_link2.stl" />
      </geometry>
    </collision>
  </link>
  <joint
    name="right_hand_ring_joint2"
    type="revolute">
    <origin
      xyz="0 0 -0.0558"
      rpy="0 0 0" />
    <parent
      link="right_hand_ring_link1" />
    <child
      link="right_hand_ring_link2" />
    <axis
      xyz="1 0 0" />
    <limit
      lower="0"
      upper="1.919"
      effort="0.4"
      velocity="14.38" />
    <dynamics
      damping="0"
      friction="0" />
  </joint>
  <link
    name="right_hand_ringback_link2">
    <inertial>
      <origin
        xyz="0.000157950438638532 -0.00758843721878611 0.0176655210858899"
        rpy="0 0 0" />
      <mass
        value="0.00000001" />
      <inertia
        ixx="0.00000000001"
        ixy="0.00000000001"
        ixz="0.00000000001"
        iyy="0.00000000001"
        iyz="0.00000000001"
        izz="0.00000000001" />
    </inertial>
    <visual>
      <origin
        xyz="0 0 0"
        rpy="0 0 0" />
      <geometry>
        <mesh
          filename="./right_hand_ringback_link2.stl" />
      </geometry>
      <material
        name="RAL_9003_Signal_White">
        <color
          rgba="0.941 0.941 0.941 1" />
      </material>
    </visual>
    <collision>
      <origin
        xyz="0 0 0"
        rpy="0 0 0" />
      <geometry>
        <mesh
          filename="./right_hand_ringback_link2.stl" />
      </geometry>
    </collision>
  </link>
  <joint
    name="right_hand_ringback_joint2"
    type="fixed">
    <origin
      xyz="0 0 -0.0422482924089403"
      rpy="0 0 0" />
    <parent
      link="right_hand_ring_link2" />
    <child
      link="right_hand_ringback_link2" />
    <axis
      xyz="0 0 0" />
    <dynamics
      damping="0"
      friction="0" />
  </joint>
  <link
    name="right_hand_ring_tip">
    <inertial>
      <origin
        xyz="1.22818422099158E-15 1.69135538907739E-16 0"
        rpy="0 0 0" />
      <mass
        value="0.00000565" />
      <inertia
        ixx="0.00000000001"
        ixy="0.00000000001"
        ixz="0.00000000001"
        iyy="0.00000000001"
        iyz="0.00000000001"
        izz="0.00000000001" />
    </inertial>
    <visual>
      <origin
        xyz="0 0 0"
        rpy="0 0 0" />
      <geometry>
        <mesh
          filename="./right_hand_ring_tip.stl" />
      </geometry>
      <material
        name="RAL_9005_Jet_Black">
        <color
          rgba="0.055 0.055 0.063 1" />
      </material>
    </visual>
    <collision>
      <origin
        xyz="0 0 0"
        rpy="0 0 0" />
      <geometry>
        <mesh
          filename="./right_hand_ring_tip.stl" />
      </geometry>
    </collision>
  </link>
  <joint
    name="right_hand_ring_joint3"
    type="fixed">
    <origin
      xyz="0 0 -0.0422482924089403"
      rpy="0 0 0" />
    <parent
      link="right_hand_ring_link2" />
    <child
      link="right_hand_ring_tip" />
    <axis
      xyz="0 0 0" />
    <dynamics
      damping="0"
      friction="0" />
  </joint>
  <link
    name="right_hand_pinky_link1">
    <inertial>
      <origin
        xyz="3.58049083611298E-05 0.000530417592105422 -0.0332784671157224"
        rpy="0 0 0" />
      <mass
        value="0.06298297" />
      <inertia
        ixx="0.00001738"
        ixy="0.00000000001"
        ixz="0.00000028"
        iyy="0.00001686"
        iyz="0.00000019"
        izz="0.0000032" />
    </inertial>
    <visual>
      <origin
        xyz="0 0 0"
        rpy="0 0 0" />
      <geometry>
        <mesh
          filename="./right_hand_pinky_link1.stl" />
      </geometry>
      <material
        name="RAL_9005_Jet_Black">
        <color
          rgba="0.055 0.055 0.063 1" />
      </material>
    </visual>
    <collision>
      <origin
        xyz="0 0 0"
        rpy="0 0 0" />
      <geometry>
        <mesh
          filename="./right_hand_pinky_link1.stl" />
      </geometry>
    </collision>
  </link>
  <joint
    name="right_hand_pinky_joint1"
    type="revolute">
    <origin
      xyz="-0.036 0.0065 -0.1022"
      rpy="0 0 0" />
    <parent
      link="right_hand_link" />
    <child
      link="right_hand_pinky_link1" />
    <axis
      xyz="1 0 0" />
    <limit
      lower="0"
      upper="1.919"
      effort="1.1"
      velocity="8.63" />
    <dynamics
      damping="0"
      friction="0" />
  </joint>
  <link
    name="right_hand_pinkyback_link1">
    <inertial>
      <origin
        xyz="-0.000148034891232163 -0.0115948044185708 0.0241234089219646"
        rpy="0 0 0" />
      <mass
        value="0.00000002" />
      <inertia
        ixx="0.00000000001"
        ixy="0.00000000001"
        ixz="0.00000000001"
        iyy="0.00000000001"
        iyz="0.00000000001"
        izz="0.00000000001" />
    </inertial>
    <visual>
      <origin
        xyz="0 0 0"
        rpy="0 0 0" />
      <geometry>
        <mesh
          filename="./right_hand_pinkyback_link1.stl" />
      </geometry>
      <material
        name="RAL_9003_Signal_White">
        <color
          rgba="0.941 0.941 0.941 1" />
      </material>
    </visual>
    <collision>
      <origin
        xyz="0 0 0"
        rpy="0 0 0" />
      <geometry>
        <mesh
          filename="./right_hand_pinkyback_link1.stl" />
      </geometry>
    </collision>
  </link>
  <joint
    name="right_hand_pinkyback_joint1"
    type="fixed">
    <origin
      xyz="0 0 -0.0558000000000001"
      rpy="0 0 0" />
    <parent
      link="right_hand_pinky_link1" />
    <child
      link="right_hand_pinkyback_link1" />
    <axis
      xyz="0 0 0" />
    <dynamics
      damping="0"
      friction="0" />
  </joint>
  <link
    name="right_hand_pinky_link2">
    <inertial>
      <origin
        xyz="-0.000248361662015334 0.0011990519020671 -0.0213789854478658"
        rpy="0 0 0" />
      <mass
        value="0.01624108" />
      <inertia
        ixx="0.00000281"
        ixy="0.00000000001"
        ixz="0.00000012"
        iyy="0.00000287"
        iyz="0.00000007"
        izz="0.00000086" />
    </inertial>
    <visual>
      <origin
        xyz="0 0 0"
        rpy="0 0 0" />
      <geometry>
        <mesh
          filename="./right_hand_pinky_link2.stl" />
      </geometry>
      <material
        name="RAL_9005_Jet_Black">
        <color
          rgba="0.055 0.055 0.063 1" />
      </material>
    </visual>
    <collision>
      <origin
        xyz="0 0 0"
        rpy="0 0 0" />
      <geometry>
        <mesh
          filename="./right_hand_pinky_link2.stl" />
      </geometry>
    </collision>
  </link>
  <joint
    name="right_hand_pinky_joint2"
    type="revolute">
    <origin
      xyz="0 0 -0.0558"
      rpy="0 0 0" />
    <parent
      link="right_hand_pinky_link1" />
    <child
      link="right_hand_pinky_link2" />
    <axis
      xyz="1 0 0" />
    <limit
      lower="0"
      upper="1.919"
      effort="1.4"
      velocity="14.38" />
    <dynamics
      damping="0"
      friction="0" />
  </joint>
  <link
    name="right_hand_pinkyback_link2">
    <inertial>
      <origin
        xyz="0.00015795043861809 -0.00758843721877113 0.0176655210856609"
        rpy="0 0 0" />
      <mass
        value="0.00000001" />
      <inertia
        ixx="0.00000000001"
        ixy="0.00000000001"
        ixz="0.00000000001"
        iyy="0.00000000001"
        iyz="0.00000000001"
        izz="0.00000000001" />
    </inertial>
    <visual>
      <origin
        xyz="0 0 0"
        rpy="0 0 0" />
      <geometry>
        <mesh
          filename="./right_hand_pinkyback_link2.stl" />
      </geometry>
      <material
        name="RAL_9003_Signal_White">
        <color
          rgba="0.941 0.941 0.941 1" />
      </material>
    </visual>
    <collision>
      <origin
        xyz="0 0 0"
        rpy="0 0 0" />
      <geometry>
        <mesh
          filename="./right_hand_pinkyback_link2.stl" />
      </geometry>
    </collision>
  </link>
  <joint
    name="right_hand_pinkyback_joint2"
    type="fixed">
    <origin
      xyz="0 0 -0.0422482924089404"
      rpy="0 0 0" />
    <parent
      link="right_hand_pinky_link2" />
    <child
      link="right_hand_pinkyback_link2" />
    <axis
      xyz="0 0 0" />
    <dynamics
      damping="0"
      friction="0" />
  </joint>
  <link
    name="right_hand_pinky_tip">
    <inertial>
      <origin
        xyz="6.17561557447743E-16 8.67361737988404E-18 0"
        rpy="0 0 0" />
      <mass
        value="0.00000565" />
      <inertia
        ixx="0.00000000001"
        ixy="0.00000000001"
        ixz="0.00000000001"
        iyy="0.00000000001"
        iyz="0.00000000001"
        izz="0.00000000001" />
    </inertial>
    <visual>
      <origin
        xyz="0 0 0"
        rpy="0 0 0" />
      <geometry>
        <mesh
          filename="./right_hand_pinky_tip.stl" />
      </geometry>
      <material
        name="RAL_9005_Jet_Black">
        <color
          rgba="0.055 0.055 0.063 1" />
      </material>
    </visual>
    <collision>
      <origin
        xyz="0 0 0"
        rpy="0 0 0" />
      <geometry>
        <mesh
          filename="./right_hand_pinky_tip.stl" />
      </geometry>
    </collision>
  </link>
  <joint
    name="right_hand_pinky_joint3"
    type="fixed">
    <origin
      xyz="0 0 -0.0422482924089404"
      rpy="0 0 0" />
    <parent
      link="right_hand_pinky_link2" />
    <child
      link="right_hand_pinky_tip" />
    <axis
      xyz="0 0 0" />
    <dynamics
      damping="0"
      friction="0" />
  </joint>



<joint name="right_xhand_attach" type="fixed">
        <parent link="link_right_arm_6" />
        <child link="right_hand_link" />
        <origin xyz="0 0 -0.1087" rpy="0 0 1.5708" />
    </joint>

    <joint name="left_xhand_attach" type="fixed">
    <parent link="link_left_arm_6" />
    <child link="left_hand_link" />
    <origin xyz="0 0 -0.1087" rpy="0 0 -1.5708" />
    </joint>

    

</robot>
